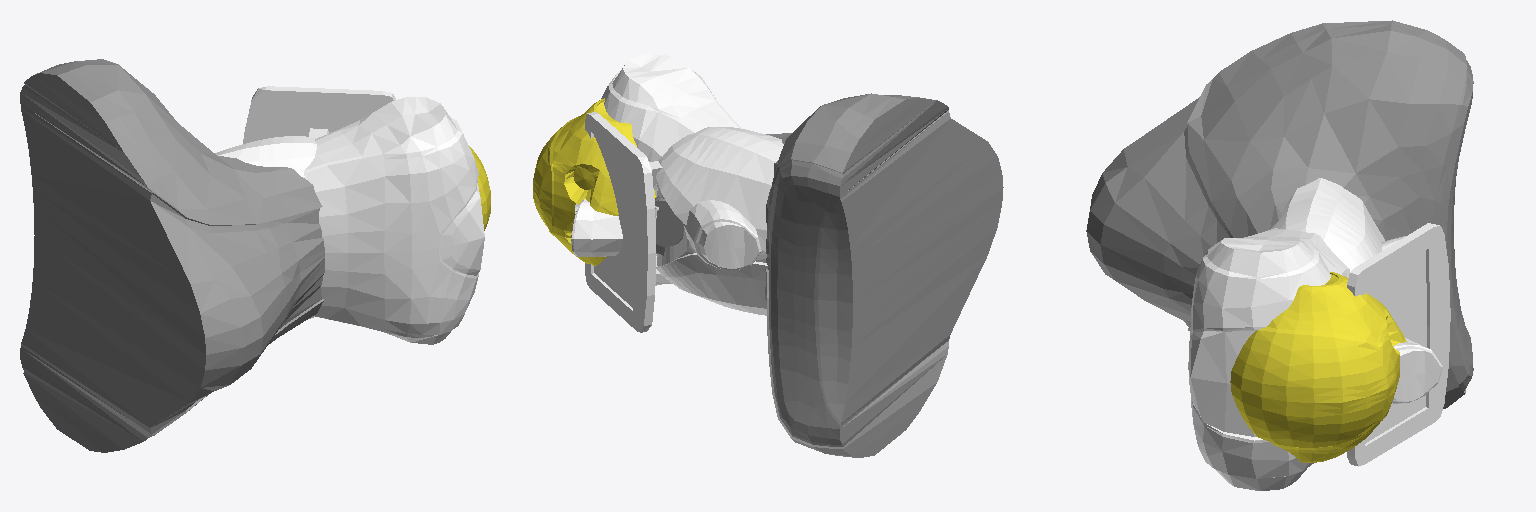
--- What the picture shows (computed from the rendered views, not written in the file) ---
The picture shows the robot from 3 angles, left to right: view 1: azimuth 30°, elevation 25°; view 2: azimuth 150°, elevation 25°; view 3: azimuth 270°, elevation 25°; orthographic projection.
Robot: JulietteY20MP — 83 links, 82 joints (17 revolute, 31 continuous, 34 fixed); root link base_link; default pose: all joints at 0 but 6 set to mid-range because 0 is outside their limits (LShoulderRoll = 0.7854, LElbowRoll = -0.7854, LHand = 0.5, RShoulderRoll = -0.7854, RElbowRoll = 0.7854, RHand = 0.5).
Links seen in each view (by area): view 1: Tibia, torso, Pelvis, Head; view 2: Tibia, torso, Pelvis, Head, LBicep, RBicep, LForeArm; view 3: Tibia, torso, Head, Pelvis, RBicep.
Link boxes in pixels (<box>): Tibia: <box>20,59,324,452</box>; torso: <box>243,86,484,344</box>; Pelvis: <box>215,136,316,318</box>; Head: <box>469,146,490,230</box>; Tibia: <box>765,93,1003,457</box>; torso: <box>585,54,741,332</box>; Pelvis: <box>653,127,783,315</box>; Head: <box>533,98,655,265</box>; LBicep: <box>683,200,761,269</box>; RBicep: <box>571,199,622,256</box>; LForeArm: <box>655,196,684,246</box>; Tibia: <box>1086,20,1473,408</box>; torso: <box>1188,223,1450,490</box>; Head: <box>1230,272,1406,462</box>; Pelvis: <box>1270,178,1384,271</box>; RBicep: <box>1392,338,1442,403</box>.
Bounding box of the posed robot: 52.62 × 43.04 × 47.44 m (x, y, z).
34 mesh visuals loaded from 47 distinct referenced files (34 binary STL); not drawn: 13 (reference not matched to a file when rendering).

The robot description file, URDF, robot "JulietteY20MP":
?<?xml version="1.0" encoding="utf-8"?>
<robot name="JulietteY20MP">
  <material name="milky_white">
    <color rgba="1 1 1 1" />
  </material>
  <material name="shiny_white">
    <color rgba="0.64 0.64 0.64 1" />
  </material>
  <material name="face_tex">
    <texture filename="package://crowdbotsim/resources/juliette_eyes.png" />
  </material>
  <link name="base_link" />
  <link name="torso">
    <inertial>
      <origin rpy="0 0 0" xyz="0.00322 0 -0.01029" />
      <mass value="3.9953300953" />
      <inertia ixx="0.0462998189032078" ixy="0.000730161496903747" ixz="-0.000433180946856737" iyy="0.0434471257030964" iyz="-0.00027618368039839" izz="0.0246874690055847" />
    </inertial>
    <visual>
      <geometry>
        <mesh filename="package://crowdbotsim/meshes/Torso.stl" scale="0.1 0.1 0.1" />
      </geometry>
      <material name="milky_white" />
    </visual>
    <collision>
      <geometry>
        <mesh filename="package://crowdbotsim/meshes/Torso_0.10.stl" scale="0.1 0.1 0.1" />
      </geometry>
    </collision>
  </link>
  <link name="Neck">
    <inertial>
      <origin rpy="0 0 0" xyz="-0.00207 0 -0.02636" />
      <mass value="0.273909986" />
      <inertia ixx="0.000247044081334025" ixy="-2.66084553004475E-05" ixz="7.60054826969281E-05" iyy="0.000340656319167465" iyz="3.71161549992394E-05" izz="0.000464950891910121" />
    </inertial>
    <visual>
      <geometry>
        <mesh filename="package://crowdbotsim/meshes/HeadYaw.stl" scale="0.1 0.1 0.1" />
      </geometry>
      <material name="shiny_white" />
    </visual>
    <collision>
      <geometry>
        <mesh filename="package://crowdbotsim/meshes/HeadYaw_0.10.stl" scale="0.1 0.1 0.1" />
      </geometry>
    </collision>
  </link>
  <link name="Head">
    <inertial>
      <origin rpy="0 0 0" xyz="0.00312 0 0.11152" />
      <mass value="1.5189299583" />
      <inertia ixx="0.00600580452010036" ixy="3.95542592741549E-05" ixz="5.45834609511076E-07" iyy="0.00592098152264953" iyz="4.83686221741664E-07" izz="0.00565444212406874" />
    </inertial>
    <visual>
      <geometry>
        <mesh filename="package://crowdbotsim/meshes/HeadPitch.stl" scale="0.1 0.1 0.1" />
      </geometry>
      <material name="face_tex" />
    </visual>
    <collision>
      <geometry>
        <mesh filename="package://crowdbotsim/meshes/HeadPitch_0.10.stl" scale="0.1 0.1 0.1" />
      </geometry>
    </collision>
  </link>
  <link name="RSpeaker_frame" />
  <link name="LSpeaker_frame" />
  <link name="CameraTop_frame" />
  <link name="CameraTop_optical_frame" />
  <link name="CameraDepth_frame" />
  <link name="CameraDepth_optical_frame" />
  <link name="HeadTouchFront_frame" />
  <link name="CameraBottom_frame" />
  <link name="CameraBottom_optical_frame" />
  <link name="HeadTouchRear_frame" />
  <link name="HeadTouchMiddle_frame" />
  <link name="Hip">
    <inertial>
      <origin rpy="0 0 0" xyz="0.00032 0 -0.06039" />
      <mass value="1.0233800411" />
      <inertia ixx="0.00440107891336083" ixy="4.93292791361455E-05" ixz="-4.91466471430613E-06" iyy="0.00502362661063671" iyz="5.6753218814265E-05" izz="0.00642004469409585" />
    </inertial>
    <visual>
      <geometry>
        <mesh filename="package://crowdbotsim/meshes/HipRoll.stl" scale="0.1 0.1 0.1" />
      </geometry>
      <material name="shiny_white" />
    </visual>
    <collision>
      <geometry>
        <mesh filename="package://crowdbotsim/meshes/HipRoll_0.10.stl" scale="0.1 0.1 0.1" />
      </geometry>
    </collision>
  </link>
  <link name="Pelvis">
    <inertial>
      <origin rpy="0 0 0" xyz="0.00237 0 -0.09654" />
      <mass value="2.4591701031" />
      <inertia ixx="0.0343529880046844" ixy="4.50889419880696E-05" ixz="-4.85995178678422E-06" iyy="0.0303127057850361" iyz="-8.37638581288047E-05" izz="0.0143746118992567" />
    </inertial>
    <visual>
      <geometry>
        <mesh filename="package://crowdbotsim/meshes/HipPitch.stl" scale="0.1 0.1 0.1" />
      </geometry>
      <material name="milky_white" />
    </visual>
    <collision>
      <geometry>
        <mesh filename="package://crowdbotsim/meshes/HipPitch_0.10.stl" scale="0.1 0.1 0.1" />
      </geometry>
    </collision>
  </link>
  <link name="Tibia">
    <inertial>
      <origin rpy="0 0 0" xyz="0.002205 0 -0.185729" />
      <mass value="11.6014995575" />
      <inertia ixx="0.129179716110229" ixy="0.000148943698150106" ixz="-0.00131446425803006" iyy="0.122817315161228" iyz="-6.18266966512238E-08" izz="0.108239002525806" />
    </inertial>
    <visual>
      <geometry>
        <mesh filename="package://crowdbotsim/meshes/KneePitch.stl" scale="0.1 0.1 0.1" />
      </geometry>
      <material name="shiny_white" />
    </visual>
    <collision>
      <geometry>
        <mesh filename="package://crowdbotsim/meshes/KneePitch_0.10.stl" scale="0.1 0.1 0.1" />
      </geometry>
    </collision>
  </link>
  <link name="base_footprint" />
  <link name="SonarBack_frame" />
  <link name="VerticalLeftLaser_frame" />
  <link name="SurroundingFrontLaser_device_frame" />
  <link name="BumperB_frame" />
  <link name="SurroundingLeftLaser_frame" />
  <link name="ShovelLaser_frame" />
  <link name="SurroundingRightLaser_device_frame" />
  <link name="SurroundingLeftLaser_device_frame" />
  <link name="SurroundingRightLaser_frame" />
  <link name="VerticalRightLaser_frame" />
  <link name="SonarFront_frame" />
  <link name="BumperFL_frame" />
  <link name="ImuBaseAccelerometer_frame" />
  <link name="BumperFR_frame" />
  <link name="SurroundingFrontLaser_frame" />
  <link name="WheelFL_link">
    <inertial>
      <origin rpy="0 0 0" xyz="0 0 0" />
      <mass value="1.5802799463" />
      <inertia ixx="0.00296489312313497" ixy="5.12017209075566E-07" ixz="8.84578668092217E-08" iyy="0.00299945333972573" iyz="5.60776925340178E-06" izz="0.00303135369904339" />
    </inertial>
    <visual>
      <geometry>
        <mesh filename="package://crowdbotsim/meshes/WheelFL.stl" scale="0.1 0.1 0.1" />
      </geometry>
      <material name="milky_white" />
    </visual>
    <collision>
      <geometry>
        <mesh filename="package://crowdbotsim/meshes/WheelFL_0.10.stl" scale="0.1 0.1 0.1" />
      </geometry>
    </collision>
  </link>
  <link name="WheelB_link">
    <inertial>
      <origin rpy="0 0 0" xyz="0 0 0" />
      <mass value="1.5802799463" />
      <inertia ixx="0.00296489312313497" ixy="5.12017209075566E-07" ixz="8.84578668092217E-08" iyy="0.00299945333972573" iyz="5.60776925340178E-06" izz="0.00303135369904339" />
    </inertial>
    <visual>
      <geometry>
        <mesh filename="package://crowdbotsim/meshes/WheelB.stl" scale="0.1 0.1 0.1" />
      </geometry>
      <material name="milky_white" />
    </visual>
    <collision>
      <geometry>
        <mesh filename="package://crowdbotsim/meshes/WheelB_0.10.stl" scale="0.1 0.1 0.1" />
      </geometry>
    </collision>
  </link>
  <link name="WheelFR_link">
    <inertial>
      <origin rpy="0 0 0" xyz="0 0 0" />
      <mass value="1.5802799463" />
      <inertia ixx="0.00296489312313497" ixy="5.12017209075566E-07" ixz="8.84578668092217E-08" iyy="0.00299945333972573" iyz="5.60776925340178E-06" izz="0.00303135369904339" />
    </inertial>
    <visual>
      <geometry>
        <mesh filename="package://crowdbotsim/meshes/WheelFR.stl" scale="0.1 0.1 0.1" />
      </geometry>
      <material name="milky_white" />
    </visual>
    <collision>
      <geometry>
        <mesh filename="package://crowdbotsim/meshes/WheelFR_0.10.stl" scale="0.1 0.1 0.1" />
      </geometry>
    </collision>
  </link>
  <link name="LShoulder">
    <inertial>
      <origin rpy="0 0 0" xyz="0.00018 -0.01856 0.00099" />
      <mass value="0.3125" />
      <inertia ixx="0.000361108541255817" ixy="-4.89721378471586E-06" ixz="6.37525658930826E-07" iyy="0.000137213835841976" iyz="-2.2163221728988E-06" izz="0.000399298907723278" />
    </inertial>
    <visual>
      <geometry>
        <mesh filename="package://crowdbotsim/meshes/LShoulderPitch.stl" scale="0.1 0.1 0.1" />
      </geometry>
      <material name="shiny_white" />
    </visual>
    <collision>
      <geometry>
        <mesh filename="package://crowdbotsim/meshes/LShoulderPitch_0.10.stl" scale="0.1 0.1 0.1" />
      </geometry>
    </collision>
  </link>
  <link name="LBicep">
    <inertial>
      <origin rpy="0 0 0" xyz="0.08151 0.01284 -0.01017" />
      <mass value="0.5052700043" />
      <inertia ixx="0.000738023722078651" ixy="-0.00036056007957086" ixz="-3.75016170437448E-05" iyy="0.00101457489654422" iyz="-7.86051896284334E-06" izz="0.00116829376202077" />
    </inertial>
    <visual>
      <geometry>
        <mesh filename="package://crowdbotsim/meshes/LShoulderRoll.stl" scale="0.1 0.1 0.1" />
      </geometry>
      <material name="milky_white" />
    </visual>
    <collision>
      <geometry>
        <mesh filename="package://crowdbotsim/meshes/LShoulderRoll_0.10.stl" scale="0.1 0.1 0.1" />
      </geometry>
    </collision>
  </link>
  <link name="LElbow">
    <inertial>
      <origin rpy="0 0 0" xyz="-0.02297 -0.00019 0.00119" />
      <mass value="0.2749499977" />
      <inertia ixx="0.000195854983758181" ixy="-0.00010136554192286" ixz="1.06879879240296E-05" iyy="0.000255356484558433" iyz="2.80242579719925E-06" izz="0.00030657253228128" />
    </inertial>
    <visual>
      <geometry>
        <mesh filename="package://crowdbotsim/meshes/LElbowYaw.stl" scale="0.1 0.1 0.1" />
      </geometry>
      <material name="shiny_white" />
    </visual>
    <collision>
      <geometry>
        <mesh filename="package://crowdbotsim/meshes/LElbowYaw_0.10.stl" scale="0.1 0.1 0.1" />
      </geometry>
    </collision>
  </link>
  <link name="LForeArm">
    <inertial>
      <origin rpy="0 0 0" xyz="0.0593 0.00271 -0.01014" />
      <mass value="0.1657900065" />
      <inertia ixx="0.00048063401482068" ixy="-0.000281982676824555" ixz="0.000403846177505329" iyy="0.00150039861910045" iyz="0.00013955649046693" izz="0.00158936984371394" />
    </inertial>
    <visual>
      <geometry>
        <mesh filename="package://crowdbotsim/meshes/LElbowRoll.stl" scale="0.1 0.1 0.1" />
      </geometry>
      <material name="shiny_white" />
    </visual>
    <collision>
      <geometry>
        <mesh filename="package://crowdbotsim/meshes/LElbowRoll_0.10.stl" scale="0.1 0.1 0.1" />
      </geometry>
    </collision>
  </link>
  <link name="l_wrist">
    <inertial>
      <origin rpy="0 0 0" xyz="0.03536 -0.00072 -0.00207" />
      <mass value="0.2755500078" />
      <inertia ixx="0.000421455479227006" ixy="1.13368487291154E-05" ixz="-5.45127004443202E-05" iyy="0.000426045298809186" iyz="8.72357850312255E-05" izz="0.000191413579159416" />
    </inertial>
    <visual>
      <geometry>
        <mesh filename="package://crowdbotsim/meshes/LWristYaw.stl" scale="0.1 0.1 0.1" />
      </geometry>
      <material name="milky_white" />
    </visual>
    <collision>
      <geometry>
        <mesh filename="package://crowdbotsim/meshes/LWristYaw_0.10.stl" scale="0.1 0.1 0.1" />
      </geometry>
    </collision>
  </link>
  <link name="l_gripper">
    <inertial>
      <origin rpy="0 0 0" xyz="0 0 0" />
      <mass value="2E-06" />
      <inertia ixx="1" ixy="0" ixz="0" iyy="1" iyz="0" izz="1" />
    </inertial>
  </link>
  <link name="LHandTouchBack_frame" />
  <link name="LFinger21_link">
    <inertial>
      <origin rpy="0 0 0" xyz="0 0 0" />
      <mass value="2E-06" />
      <inertia ixx="1" ixy="0" ixz="0" iyy="1" iyz="0" izz="1" />
    </inertial>
    <visual>
      <geometry>
        <mesh filename="package://crowdbotsim/meshes/LFinger21.stl" scale="0.1 0.1 0.1" />
      </geometry>
      <material name="milky_white" />
    </visual>
    <collision>
      <geometry>
        <mesh filename="package://crowdbotsim/meshes/LFinger21_0.10.stl" scale="0.1 0.1 0.1" />
      </geometry>
    </collision>
  </link>
  <link name="LFinger22_link">
    <inertial>
      <origin rpy="0 0 0" xyz="0 0 0" />
      <mass value="2E-06" />
      <inertia ixx="1" ixy="0" ixz="0" iyy="1" iyz="0" izz="1" />
    </inertial>
    <visual>
      <geometry>
        <mesh filename="package://crowdbotsim/meshes/LFinger22.stl" scale="0.1 0.1 0.1" />
      </geometry>
      <material name="milky_white" />
    </visual>
    <collision>
      <geometry>
        <mesh filename="package://crowdbotsim/meshes/LFinger22_0.10.stl" scale="0.1 0.1 0.1" />
      </geometry>
    </collision>
  </link>
  <link name="LFinger23_link">
    <inertial>
      <origin rpy="0 0 0" xyz="0 0 0" />
      <mass value="2E-06" />
      <inertia ixx="1" ixy="0" ixz="0" iyy="1" iyz="0" izz="1" />
    </inertial>
    <visual>
      <geometry>
        <mesh filename="package://crowdbotsim/meshes/LFinger23.stl" scale="0.1 0.1 0.1" />
      </geometry>
      <material name="milky_white" />
    </visual>
    <collision>
      <geometry>
        <mesh filename="package://crowdbotsim/meshes/LFinger23_0.10.stl" scale="0.1 0.1 0.1" />
      </geometry>
    </collision>
  </link>
  <link name="LFinger11_link">
    <inertial>
      <origin rpy="0 0 0" xyz="0 0 0" />
      <mass value="2E-06" />
      <inertia ixx="1" ixy="0" ixz="0" iyy="1" iyz="0" izz="1" />
    </inertial>
    <visual>
      <geometry>
        <mesh filename="package://crowdbotsim/meshes/LFinger11.stl" scale="0.1 0.1 0.1" />
      </geometry>
      <material name="milky_white" />
    </visual>
    <collision>
      <geometry>
        <mesh filename="package://crowdbotsim/meshes/LFinger11_0.10.stl" scale="0.1 0.1 0.1" />
      </geometry>
    </collision>
  </link>
  <link name="LFinger12_link">
    <inertial>
      <origin rpy="0 0 0" xyz="0 0 0" />
      <mass value="2E-06" />
      <inertia ixx="1" ixy="0" ixz="0" iyy="1" iyz="0" izz="1" />
    </inertial>
    <visual>
      <geometry>
        <mesh filename="package://crowdbotsim/meshes/LFinger12.stl" scale="0.1 0.1 0.1" />
      </geometry>
      <material name="milky_white" />
    </visual>
    <collision>
      <geometry>
        <mesh filename="package://crowdbotsim/meshes/LFinger12_0.10.stl" scale="0.1 0.1 0.1" />
      </geometry>
    </collision>
  </link>
  <link name="LFinger13_link">
    <inertial>
      <origin rpy="0 0 0" xyz="0 0 0" />
      <mass value="2E-06" />
      <inertia ixx="1" ixy="0" ixz="0" iyy="1" iyz="0" izz="1" />
    </inertial>
    <visual>
      <geometry>
        <mesh filename="package://crowdbotsim/meshes/LFinger13.stl" scale="0.1 0.1 0.1" />
      </geometry>
      <material name="milky_white" />
    </visual>
    <collision>
      <geometry>
        <mesh filename="package://crowdbotsim/meshes/LFinger13_0.10.stl" scale="0.1 0.1 0.1" />
      </geometry>
    </collision>
  </link>
  <link name="LFinger41_link">
    <inertial>
      <origin rpy="0 0 0" xyz="0 0 0" />
      <mass value="2E-06" />
      <inertia ixx="1" ixy="0" ixz="0" iyy="1" iyz="0" izz="1" />
    </inertial>
    <visual>
      <geometry>
        <mesh filename="package://crowdbotsim/meshes/LFinger41.stl" scale="0.1 0.1 0.1" />
      </geometry>
      <material name="milky_white" />
    </visual>
    <collision>
      <geometry>
        <mesh filename="package://crowdbotsim/meshes/LFinger41_0.10.stl" scale="0.1 0.1 0.1" />
      </geometry>
    </collision>
  </link>
  <link name="LFinger42_link">
    <inertial>
      <origin rpy="0 0 0" xyz="0 0 0" />
      <mass value="2E-06" />
      <inertia ixx="1" ixy="0" ixz="0" iyy="1" iyz="0" izz="1" />
    </inertial>
    <visual>
      <geometry>
        <mesh filename="package://crowdbotsim/meshes/LFinger42.stl" scale="0.1 0.1 0.1" />
      </geometry>
      <material name="milky_white" />
    </visual>
    <collision>
      <geometry>
        <mesh filename="package://crowdbotsim/meshes/LFinger42_0.10.stl" scale="0.1 0.1 0.1" />
      </geometry>
    </collision>
  </link>
  <link name="LFinger43_link">
    <inertial>
      <origin rpy="0 0 0" xyz="0 0 0" />
      <mass value="2E-06" />
      <inertia ixx="1" ixy="0" ixz="0" iyy="1" iyz="0" izz="1" />
    </inertial>
    <visual>
      <geometry>
        <mesh filename="package://crowdbotsim/meshes/LFinger43.stl" scale="0.1 0.1 0.1" />
      </geometry>
      <material name="milky_white" />
    </visual>
    <collision>
      <geometry>
        <mesh filename="package://crowdbotsim/meshes/LFinger43_0.10.stl" scale="0.1 0.1 0.1" />
      </geometry>
    </collision>
  </link>
  <link name="LFinger31_link">
    <inertial>
      <origin rpy="0 0 0" xyz="0 0 0" />
      <mass value="2E-06" />
      <inertia ixx="1" ixy="0" ixz="0" iyy="1" iyz="0" izz="1" />
    </inertial>
    <visual>
      <geometry>
        <mesh filename="package://crowdbotsim/meshes/LFinger31.stl" scale="0.1 0.1 0.1" />
      </geometry>
      <material name="milky_white" />
    </visual>
    <collision>
      <geometry>
        <mesh filename="package://crowdbotsim/meshes/LFinger31_0.10.stl" scale="0.1 0.1 0.1" />
      </geometry>
    </collision>
  </link>
  <link name="LFinger32_link">
    <inertial>
      <origin rpy="0 0 0" xyz="0 0 0" />
      <mass value="2E-06" />
      <inertia ixx="1" ixy="0" ixz="0" iyy="1" iyz="0" izz="1" />
    </inertial>
    <visual>
      <geometry>
        <mesh filename="package://crowdbotsim/meshes/LFinger32.stl" scale="0.1 0.1 0.1" />
      </geometry>
      <material name="milky_white" />
    </visual>
    <collision>
      <geometry>
        <mesh filename="package://crowdbotsim/meshes/LFinger32_0.10.stl" scale="0.1 0.1 0.1" />
      </geometry>
    </collision>
  </link>
  <link name="LFinger33_link">
    <inertial>
      <origin rpy="0 0 0" xyz="0 0 0" />
      <mass value="2E-06" />
      <inertia ixx="1" ixy="0" ixz="0" iyy="1" iyz="0" izz="1" />
    </inertial>
    <visual>
      <geometry>
        <mesh filename="package://crowdbotsim/meshes/LFinger33.stl" scale="0.1 0.1 0.1" />
      </geometry>
      <material name="milky_white" />
    </visual>
    <collision>
      <geometry>
        <mesh filename="package://crowdbotsim/meshes/LFinger33_0.10.stl" scale="0.1 0.1 0.1" />
      </geometry>
    </collision>
  </link>
  <link name="LThumb1_link">
    <inertial>
      <origin rpy="0 0 0" xyz="0 0 0" />
      <mass value="2E-06" />
      <inertia ixx="1" ixy="0" ixz="0" iyy="1" iyz="0" izz="1" />
    </inertial>
    <visual>
      <geometry>
        <mesh filename="package://crowdbotsim/meshes/LThumb1.stl" scale="0.1 0.1 0.1" />
      </geometry>
      <material name="milky_white" />
    </visual>
    <collision>
      <geometry>
        <mesh filename="package://crowdbotsim/meshes/LThumb1_0.10.stl" scale="0.1 0.1 0.1" />
      </geometry>
    </collision>
  </link>
  <link name="LThumb2_link">
    <inertial>
      <origin rpy="0 0 0" xyz="0 0 0" />
      <mass value="2E-06" />
      <inertia ixx="1" ixy="0" ixz="0" iyy="1" iyz="0" izz="1" />
    </inertial>
    <visual>
      <geometry>
        <mesh filename="package://crowdbotsim/meshes/LThumb2.stl" scale="0.1 0.1 0.1" />
      </geometry>
      <material name="milky_white" />
    </visual>
    <collision>
      <geometry>
        <mesh filename="package://crowdbotsim/meshes/LThumb2_0.10.stl" scale="0.1 0.1 0.1" />
      </geometry>
    </collision>
  </link>
  <link name="RShoulder">
    <inertial>
      <origin rpy="0 0 0" xyz="0.00018 0.01856 0.00099" />
      <mass value="0.3125" />
      <inertia ixx="0.000361108541255817" ixy="4.89721378471586E-06" ixz="6.37525658930826E-07" iyy="0.000137213835841976" iyz="2.2163221728988E-06" izz="0.000399298907723278" />
    </inertial>
    <visual>
      <geometry>
        <mesh filename="package://crowdbotsim/meshes/RShoulderPitch.stl" scale="0.1 0.1 0.1" />
      </geometry>
      <material name="shiny_white" />
    </visual>
    <collision>
      <geometry>
        <mesh filename="package://crowdbotsim/meshes/RShoulderPitch_0.10.stl" scale="0.1 0.1 0.1" />
      </geometry>
    </collision>
  </link>
  <link name="RBicep">
    <inertial>
      <origin rpy="0 0 0" xyz="0.08151 -0.01284 -0.01017" />
      <mass value="0.5052700043" />
      <inertia ixx="0.000793765531852841" ixy="-0.000377408548956737" ixz="-3.50773734680843E-05" iyy="0.000958748394623399" iyz="-9.73487112787552E-06" izz="0.0011683776974678" />
    </inertial>
    <visual>
      <geometry>
        <mesh filename="package://crowdbotsim/meshes/RShoulderRoll.stl" scale="0.1 0.1 0.1" />
      </geometry>
      <material name="milky_white" />
    </visual>
    <collision>
      <geometry>
        <mesh filename="package://crowdbotsim/meshes/RShoulderRoll_0.10.stl" scale="0.1 0.1 0.1" />
      </geometry>
    </collision>
  </link>
  <link name="RElbow">
    <inertial>
      <origin rpy="0 0 0" xyz="-0.02297 0.00019 0.00119" />
      <mass value="0.2749499977" />
      <inertia ixx="0.000194782085600309" ixy="-0.000101040590379853" ixz="1.07393771031639E-05" iyy="0.000256431434536353" iyz="2.76397622656077E-06" izz="0.000306570524116978" />
    </inertial>
    <visual>
      <geometry>
        <mesh filename="package://crowdbotsim/meshes/RElbowYaw.stl" scale="0.1 0.1 0.1" />
      </geometry>
      <material name="shiny_white" />
    </visual>
    <collision>
      <geometry>
        <mesh filename="package://crowdbotsim/meshes/RElbowYaw_0.10.stl" scale="0.1 0.1 0.1" />
      </geometry>
    </collision>
  </link>
  <link name="RForeArm">
    <inertial>
      <origin rpy="0 0 0" xyz="0.0593 -0.00271 -0.01014" />
      <mass value="0.1657900065" />
      <inertia ixx="0.000480270071420819" ixy="-0.000281236600130796" ixz="0.00040399661520496" iyy="0.00150082213804126" iyz="0.000139315001433715" izz="0.00158930895850062" />
    </inertial>
    <visual>
      <geometry>
        <mesh filename="package://crowdbotsim/meshes/RElbowRoll.stl" scale="0.1 0.1 0.1" />
      </geometry>
      <material name="shiny_white" />
    </visual>
    <collision>
      <geometry>
        <mesh filename="package://crowdbotsim/meshes/RElbowRoll_0.10.stl" scale="0.1 0.1 0.1" />
      </geometry>
    </collision>
  </link>
  <link name="r_wrist">
    <inertial>
      <origin rpy="0 0 0" xyz="0.03536 0.00072 -0.00207" />
      <mass value="0.2755500078" />
      <inertia ixx="0.000427103193942457" ixy="-1.15079365059501E-06" ixz="-3.33570387738291E-05" iyy="0.000456119538284838" iyz="-1.15950751933269E-05" izz="0.000155691654072143" />
    </inertial>
    <visual>
      <geometry>
        <mesh filename="package://crowdbotsim/meshes/RWristYaw.stl" scale="0.1 0.1 0.1" />
      </geometry>
      <material name="milky_white" />
    </visual>
    <collision>
      <geometry>
        <mesh filename="package://crowdbotsim/meshes/RWristYaw_0.10.stl" scale="0.1 0.1 0.1" />
      </geometry>
    </collision>
  </link>
  <link name="r_gripper">
    <inertial>
      <origin rpy="0 0 0" xyz="0 0 0" />
      <mass value="2E-06" />
      <inertia ixx="1" ixy="0" ixz="0" iyy="1" iyz="0" izz="1" />
    </inertial>
  </link>
  <link name="RHandTouchBack_frame" />
  <link name="RFinger41_link">
    <inertial>
      <origin rpy="0 0 0" xyz="0 0 0" />
      <mass value="2E-06" />
      <inertia ixx="1" ixy="0" ixz="0" iyy="1" iyz="0" izz="1" />
    </inertial>
    <visual>
      <geometry>
        <mesh filename="package://crowdbotsim/meshes/RFinger41.stl" scale="0.1 0.1 0.1" />
      </geometry>
      <material name="milky_white" />
    </visual>
    <collision>
      <geometry>
        <mesh filename="package://crowdbotsim/meshes/RFinger41_0.10.stl" scale="0.1 0.1 0.1" />
      </geometry>
    </collision>
  </link>
  <link name="RFinger42_link">
    <inertial>
      <origin rpy="0 0 0" xyz="0 0 0" />
      <mass value="2E-06" />
      <inertia ixx="1" ixy="0" ixz="0" iyy="1" iyz="0" izz="1" />
    </inertial>
    <visual>
      <geometry>
        <mesh filename="package://crowdbotsim/meshes/RFinger42.stl" scale="0.1 0.1 0.1" />
      </geometry>
      <material name="milky_white" />
    </visual>
    <collision>
      <geometry>
        <mesh filename="package://crowdbotsim/meshes/RFinger42_0.10.stl" scale="0.1 0.1 0.1" />
      </geometry>
    </collision>
  </link>
  <link name="RFinger43_link">
    <inertial>
      <origin rpy="0 0 0" xyz="0 0 0" />
      <mass value="2E-06" />
      <inertia ixx="1" ixy="0" ixz="0" iyy="1" iyz="0" izz="1" />
    </inertial>
    <visual>
      <geometry>
        <mesh filename="package://crowdbotsim/meshes/RFinger43.stl" scale="0.1 0.1 0.1" />
      </geometry>
      <material name="milky_white" />
    </visual>
    <collision>
      <geometry>
        <mesh filename="package://crowdbotsim/meshes/RFinger43_0.10.stl" scale="0.1 0.1 0.1" />
      </geometry>
    </collision>
  </link>
  <link name="RFinger31_link">
    <inertial>
      <origin rpy="0 0 0" xyz="0 0 0" />
      <mass value="2E-06" />
      <inertia ixx="1" ixy="0" ixz="0" iyy="1" iyz="0" izz="1" />
    </inertial>
    <visual>
      <geometry>
        <mesh filename="package://crowdbotsim/meshes/RFinger31.stl" scale="0.1 0.1 0.1" />
      </geometry>
      <material name="milky_white" />
    </visual>
    <collision>
      <geometry>
        <mesh filename="package://crowdbotsim/meshes/RFinger31_0.10.stl" scale="0.1 0.1 0.1" />
      </geometry>
    </collision>
  </link>
  <link name="RFinger32_link">
    <inertial>
      <origin rpy="0 0 0" xyz="0 0 0" />
      <mass value="2E-06" />
      <inertia ixx="1" ixy="0" ixz="0" iyy="1" iyz="0" izz="1" />
    </inertial>
    <visual>
      <geometry>
        <mesh filename="package://crowdbotsim/meshes/RFinger32.stl" scale="0.1 0.1 0.1" />
      </geometry>
      <material name="milky_white" />
    </visual>
    <collision>
      <geometry>
        <mesh filename="package://crowdbotsim/meshes/RFinger32_0.10.stl" scale="0.1 0.1 0.1" />
      </geometry>
    </collision>
  </link>
  <link name="RFinger33_link">
    <inertial>
      <origin rpy="0 0 0" xyz="0 0 0" />
      <mass value="2E-06" />
      <inertia ixx="1" ixy="0" ixz="0" iyy="1" iyz="0" izz="1" />
    </inertial>
    <visual>
      <geometry>
        <mesh filename="package://crowdbotsim/meshes/RFinger33.stl" scale="0.1 0.1 0.1" />
      </geometry>
      <material name="milky_white" />
    </visual>
    <collision>
      <geometry>
        <mesh filename="package://crowdbotsim/meshes/RFinger33_0.10.stl" scale="0.1 0.1 0.1" />
      </geometry>
    </collision>
  </link>
  <link name="RFinger21_link">
    <inertial>
      <origin rpy="0 0 0" xyz="0 0 0" />
      <mass value="2E-06" />
      <inertia ixx="1" ixy="0" ixz="0" iyy="1" iyz="0" izz="1" />
    </inertial>
    <visual>
      <geometry>
        <mesh filename="package://crowdbotsim/meshes/RFinger21.stl" scale="0.1 0.1 0.1" />
      </geometry>
      <material name="milky_white" />
    </visual>
    <collision>
      <geometry>
        <mesh filename="package://crowdbotsim/meshes/RFinger21_0.10.stl" scale="0.1 0.1 0.1" />
      </geometry>
    </collision>
  </link>
  <link name="RFinger22_link">
    <inertial>
      <origin rpy="0 0 0" xyz="0 0 0" />
      <mass value="2E-06" />
      <inertia ixx="1" ixy="0" ixz="0" iyy="1" iyz="0" izz="1" />
    </inertial>
    <visual>
      <geometry>
        <mesh filename="package://crowdbotsim/meshes/RFinger22.stl" scale="0.1 0.1 0.1" />
      </geometry>
      <material name="milky_white" />
    </visual>
    <collision>
      <geometry>
        <mesh filename="package://crowdbotsim/meshes/RFinger22_0.10.stl" scale="0.1 0.1 0.1" />
      </geometry>
    </collision>
  </link>
  <link name="RFinger23_link">
    <inertial>
      <origin rpy="0 0 0" xyz="0 0 0" />
      <mass value="2E-06" />
      <inertia ixx="1" ixy="0" ixz="0" iyy="1" iyz="0" izz="1" />
    </inertial>
    <visual>
      <geometry>
        <mesh filename="package://crowdbotsim/meshes/RFinger23.stl" scale="0.1 0.1 0.1" />
      </geometry>
      <material name="milky_white" />
    </visual>
    <collision>
      <geometry>
        <mesh filename="package://crowdbotsim/meshes/RFinger23_0.10.stl" scale="0.1 0.1 0.1" />
      </geometry>
    </collision>
  </link>
  <link name="RFinger11_link">
    <inertial>
      <origin rpy="0 0 0" xyz="0 0 0" />
      <mass value="2E-06" />
      <inertia ixx="1" ixy="0" ixz="0" iyy="1" iyz="0" izz="1" />
    </inertial>
    <visual>
      <geometry>
        <mesh filename="package://crowdbotsim/meshes/RFinger11.stl" scale="0.1 0.1 0.1" />
      </geometry>
      <material name="milky_white" />
    </visual>
    <collision>
      <geometry>
        <mesh filename="package://crowdbotsim/meshes/RFinger11_0.10.stl" scale="0.1 0.1 0.1" />
      </geometry>
    </collision>
  </link>
  <link name="RFinger12_link">
    <inertial>
      <origin rpy="0 0 0" xyz="0 0 0" />
      <mass value="2E-06" />
      <inertia ixx="1" ixy="0" ixz="0" iyy="1" iyz="0" izz="1" />
    </inertial>
    <visual>
      <geometry>
        <mesh filename="package://crowdbotsim/meshes/RFinger12.stl" scale="0.1 0.1 0.1" />
      </geometry>
      <material name="milky_white" />
    </visual>
    <collision>
      <geometry>
        <mesh filename="package://crowdbotsim/meshes/RFinger12_0.10.stl" scale="0.1 0.1 0.1" />
      </geometry>
    </collision>
  </link>
  <link name="RFinger13_link">
    <inertial>
      <origin rpy="0 0 0" xyz="0 0 0" />
      <mass value="2E-06" />
      <inertia ixx="1" ixy="0" ixz="0" iyy="1" iyz="0" izz="1" />
    </inertial>
    <visual>
      <geometry>
        <mesh filename="package://crowdbotsim/meshes/RFinger13.stl" scale="0.1 0.1 0.1" />
      </geometry>
      <material name="milky_white" />
    </visual>
    <collision>
      <geometry>
        <mesh filename="package://crowdbotsim/meshes/RFinger13_0.10.stl" scale="0.1 0.1 0.1" />
      </geometry>
    </collision>
  </link>
  <link name="RThumb1_link">
    <inertial>
      <origin rpy="0 0 0" xyz="0 0 0" />
      <mass value="2E-06" />
      <inertia ixx="1" ixy="0" ixz="0" iyy="1" iyz="0" izz="1" />
    </inertial>
    <visual>
      <geometry>
        <mesh filename="package://crowdbotsim/meshes/RThumb1.stl" scale="0.1 0.1 0.1" />
      </geometry>
      <material name="milky_white" />
    </visual>
    <collision>
      <geometry>
        <mesh filename="package://crowdbotsim/meshes/RThumb1_0.10.stl" scale="0.1 0.1 0.1" />
      </geometry>
    </collision>
  </link>
  <link name="RThumb2_link">
    <inertial>
      <origin rpy="0 0 0" xyz="0 0 0" />
      <mass value="2E-06" />
      <inertia ixx="1" ixy="0" ixz="0" iyy="1" iyz="0" izz="1" />
    </inertial>
    <visual>
      <geometry>
        <mesh filename="package://crowdbotsim/meshes/RThumb2.stl" scale="0.1 0.1 0.1" />
      </geometry>
      <material name="milky_white" />
    </visual>
    <collision>
      <geometry>
        <mesh filename="package://crowdbotsim/meshes/RThumb2_0.10.stl" scale="0.1 0.1 0.1" />
      </geometry>
    </collision>
  </link>
  <link name="ImuTorsoAccelerometer_frame" />
  <link name="ImuTorsoGyrometer_frame" />
  <link name="Tablet_frame" />
  <link name="ChestButton_frame" />
  <joint name="base_link_torso_joint" type="fixed">
    <parent link="base_link" />
    <child link="torso" />
  </joint>
  <joint name="HeadYaw" type="revolute">
    <origin xyz="-0.038 0 0.1699" />
    <parent link="torso" />
    <child link="Neck" />
    <axis xyz="0 0 1" />
    <limit lower="-2.08567" upper="2.08567" effort="1000" velocity="1000" />
  </joint>
  <joint name="HeadPitch" type="revolute">
    <parent link="Neck" />
    <child link="Head" />
    <axis xyz="0 1 0" />
    <limit lower="-0.706858" upper="0.637045" effort="1000" velocity="1000" />
  </joint>
  <joint name="Head_RSpeaker_frame_joint" type="fixed">
    <parent link="Head" />
    <child link="RSpeaker_frame" />
  </joint>
  <joint name="Head_LSpeaker_frame_joint" type="fixed">
    <parent link="Head" />
    <child link="LSpeaker_frame" />
  </joint>
  <joint name="Head_CameraTop_frame_joint" type="fixed">
    <origin xyz="0.08601 0 0.16284" />
    <parent link="Head" />
    <child link="CameraTop_frame" />
  </joint>
  <joint name="CameraTop_frame_CameraTop_optical_frame_joint" type="fixed">
    <origin rpy="-1.570796 0 -1.570796" />
    <parent link="CameraTop_frame" />
    <child link="CameraTop_optical_frame" />
  </joint>
  <joint name="Head_CameraDepth_frame_joint" type="fixed">
    <origin xyz="0.05138 0.039 0.1194" />
    <parent link="Head" />
    <child link="CameraDepth_frame" />
  </joint>
  <joint name="CameraDepth_frame_CameraDepth_optical_frame_joint" type="fixed">
    <origin rpy="-1.570796 0 -1.570796" />
    <parent link="CameraDepth_frame" />
    <child link="CameraDepth_optical_frame" />
  </joint>
  <joint name="Head_HeadTouchFront_frame_joint" type="fixed">
    <origin rpy="0 0.20944 0" xyz="0.028175 0 0.21267" />
    <parent link="Head" />
    <child link="HeadTouchFront_frame" />
  </joint>
  <joint name="Head_CameraBottom_frame_joint" type="fixed">
    <origin rpy="0 0.698132 0" xyz="0.09262 0 0.06177" />
    <parent link="Head" />
    <child link="CameraBottom_frame" />
  </joint>
  <joint name="CameraBottom_frame_CameraBottom_optical_frame_joint" type="fixed">
    <origin rpy="-1.570796 0 -1.570796" />
    <parent link="CameraBottom_frame" />
    <child link="CameraBottom_optical_frame" />
  </joint>
  <joint name="Head_HeadTouchRear_frame_joint" type="fixed">
    <origin rpy="0 5.969026 0" xyz="-0.03376 0 0.21052" />
    <parent link="Head" />
    <child link="HeadTouchRear_frame" />
  </joint>
  <joint name="Head_HeadTouchMiddle_frame_joint" type="fixed">
    <origin rpy="0 6.248279 0" xyz="0.0041 0 0.2159" />
    <parent link="Head" />
    <child link="HeadTouchMiddle_frame" />
  </joint>
  <joint name="HipRoll" type="revolute">
    <origin xyz="2E-05 0 -0.139" />
    <parent link="torso" />
    <child link="Hip" />
    <axis xyz="1 0 0" />
    <limit lower="-0.514872" upper="0.514872" effort="1000" velocity="1000" />
  </joint>
  <joint name="HipPitch" type="revolute">
    <origin xyz="0 0 -0.079" />
    <parent link="Hip" />
    <child link="Pelvis" />
    <axis xyz="0 1 0" />
    <limit lower="-1.03847" upper="1.03847" effort="1000" velocity="1000" />
  </joint>
  <joint name="KneePitch" type="revolute">
    <origin xyz="0 0 -0.268" />
    <parent link="Pelvis" />
    <child link="Tibia" />
    <axis xyz="0 1 0" />
    <limit lower="-0.514872" upper="0.514872" effort="1000" velocity="1000" />
  </joint>
  <joint name="Tibia_base_footprint_joint" type="fixed">
    <origin xyz="0 0 -0.334" />
    <parent link="Tibia" />
    <child link="base_footprint" />
  </joint>
  <joint name="Tibia_SonarBack_frame_joint" type="fixed">
    <origin rpy="0 6.073747 -3.14159" xyz="-0.0718 0 -0.0534" />
    <parent link="Tibia" />
    <child link="SonarBack_frame" />
  </joint>
  <joint name="Tibia_VerticalLeftLaser_frame_joint" type="fixed">
    <origin rpy="0 0.349066 0" xyz="0.0562 0 -0.0692" />
    <parent link="Tibia" />
    <child link="VerticalLeftLaser_frame" />
  </joint>
  <joint name="Tibia_SurroundingFrontLaser_device_frame_joint" type="fixed">
    <origin rpy="0 0.349066 0" xyz="0.0562 0 -0.0692" />
    <parent link="Tibia" />
    <child link="SurroundingFrontLaser_device_frame" />
  </joint>
  <joint name="Tibia_BumperB_frame_joint" type="fixed">
    <origin rpy="0 0 -3.14159" xyz="-0.251 0 -0.264" />
    <parent link="Tibia" />
    <child link="BumperB_frame" />
  </joint>
  <joint name="Tibia_SurroundingLeftLaser_frame_joint" type="fixed">
    <origin rpy="0 0 -4.525905" xyz="-0.018 0.0899 -0.334" />
    <parent link="Tibia" />
    <child link="SurroundingLeftLaser_frame" />
  </joint>
  <joint name="Tibia_ShovelLaser_frame_joint" type="fixed">
    <origin rpy="0 0.349066 0" xyz="0.0562 0 -0.0692" />
    <parent link="Tibia" />
    <child link="ShovelLaser_frame" />
  </joint>
  <joint name="Tibia_SurroundingRightLaser_device_frame_joint" type="fixed">
    <origin rpy="0 0.349066 -1.5708" xyz="-0.018 -0.0899 -0.0759" />
    <parent link="Tibia" />
    <child link="SurroundingRightLaser_device_frame" />
  </joint>
  <joint name="Tibia_SurroundingLeftLaser_device_frame_joint" type="fixed">
    <origin rpy="0 0.349066 -4.712386" xyz="-0.018 0.0899 -0.0759" />
    <parent link="Tibia" />
    <child link="SurroundingLeftLaser_device_frame" />
  </joint>
  <joint name="Tibia_SurroundingRightLaser_frame_joint" type="fixed">
    <origin rpy="0 0 -1.75728" xyz="-0.018 -0.0899 -0.334" />
    <parent link="Tibia" />
    <child link="SurroundingRightLaser_frame" />
  </joint>
  <joint name="Tibia_VerticalRightLaser_frame_joint" type="fixed">
    <origin rpy="0 0.349066 0" xyz="0.0562 0 -0.0692" />
    <parent link="Tibia" />
    <child link="VerticalRightLaser_frame" />
  </joint>
  <joint name="Tibia_SonarFront_frame_joint" type="fixed">
    <origin rpy="0 5.960327 0" xyz="0.0699 0 -0.1023" />
    <parent link="Tibia" />
    <child link="SonarFront_frame" />
  </joint>
  <joint name="Tibia_BumperFL_frame_joint" type="fixed">
    <origin rpy="0 0 -5.794325" xyz="0.129 0.227 -0.264" />
    <parent link="Tibia" />
    <child link="BumperFL_frame" />
  </joint>
  <joint name="Tibia_ImuBaseAccelerometer_frame_joint" type="fixed">
    <origin xyz="0.0147 -0.0017 -0.26319" />
    <parent link="Tibia" />
    <child link="ImuBaseAccelerometer_frame" />
  </joint>
  <joint name="Tibia_BumperFR_frame_joint" type="fixed">
    <origin rpy="0 0 -0.48886" xyz="0.129 -0.227 -0.264" />
    <parent link="Tibia" />
    <child link="BumperFR_frame" />
  </joint>
  <joint name="Tibia_SurroundingFrontLaser_frame_joint" type="fixed">
    <origin xyz="0.0562 0 -0.334" />
    <parent link="Tibia" />
    <child link="SurroundingFrontLaser_frame" />
  </joint>
  <joint name="WheelFL" type="continuous">
    <origin rpy="0 0 -5.208015" xyz="0.09 0.155 -0.264" />
    <parent link="Tibia" />
    <child link="WheelFL_link" />
    <axis xyz="1 0 0" />
  </joint>
  <joint name="WheelB" type="continuous">
    <origin rpy="0 0 -3.14159" xyz="-0.17 0 -0.264" />
    <parent link="Tibia" />
    <child link="WheelB_link" />
    <axis xyz="1 0 0" />
  </joint>
  <joint name="WheelFR" type="continuous">
    <origin rpy="0 0 -1.07517" xyz="0.09 -0.155 -0.264" />
    <parent link="Tibia" />
    <child link="WheelFR_link" />
    <axis xyz="1 0 0" />
  </joint>
  <joint name="LShoulderPitch" type="revolute">
    <origin xyz="-0.057 0.14974 0.08682" />
    <parent link="torso" />
    <child link="LShoulder" />
    <axis xyz="0 1 0" />
    <limit lower="-2.08567" upper="2.08567" effort="1000" velocity="1000" />
  </joint>
  <joint name="LShoulderRoll" type="revolute">
    <parent link="LShoulder" />
    <child link="LBicep" />
    <axis xyz="0 0 1" />
    <limit lower="0.008727" upper="1.56207" effort="1000" velocity="1000" />
  </joint>
  <joint name="LElbowYaw" type="revolute">
    <origin rpy="0 6.126106 0" xyz="0.1812 0.015 0.00013" />
    <parent link="LBicep" />
    <child link="LElbow" />
    <axis xyz="1 0 0" />
    <limit lower="-2.08567" upper="2.08567" effort="1000" velocity="1000" />
  </joint>
  <joint name="LElbowRoll" type="revolute">
    <parent link="LElbow" />
    <child link="LForeArm" />
    <axis xyz="0 0 1" />
    <limit lower="-1.56207" upper="-0.008727" effort="1000" velocity="1000" />
  </joint>
  <joint name="LWristYaw" type="revolute">
    <origin xyz="0.15 0 0" />
    <parent link="LForeArm" />
    <child link="l_wrist" />
    <axis xyz="1 0 0" />
    <limit lower="-1.82387" upper="1.82387" effort="1000" velocity="1000" />
  </joint>
  <joint name="LHand" type="revolute">
    <origin xyz="0.025 0 0" />
    <parent link="l_wrist" />
    <child link="l_gripper" />
    <axis xyz="1 0 0" />
    <limit lower="0.02" upper="0.98" effort="1000" velocity="1000" />
  </joint>
  <joint name="l_wrist_LHandTouchBack_frame_joint" type="fixed">
    <origin rpy="0 4.712389 -1.570786" xyz="0.0523 0 0.0304" />
    <parent link="l_wrist" />
    <child link="LHandTouchBack_frame" />
  </joint>
  <joint name="LFinger21" type="continuous">
    <origin rpy="-4.712385 1.0472 -0.061086" xyz="0.0873 -0.0073 0.006" />
    <parent link="l_wrist" />
    <child link="LFinger21_link" />
    <axis xyz="0 0 1" />
  </joint>
  <joint name="LFinger22" type="continuous">
    <origin rpy="0 0 -1.0472" xyz="0.018 0 0" />
    <parent link="LFinger21_link" />
    <child link="LFinger22_link" />
    <axis xyz="0 0 1" />
  </joint>
  <joint name="LFinger23" type="continuous">
    <origin rpy="0 0 -1.0472" xyz="0.018 0 0" />
    <parent link="LFinger22_link" />
    <child link="LFinger23_link" />
    <axis xyz="0 0 1" />
  </joint>
  <joint name="LFinger11" type="continuous">
    <origin rpy="-4.539165 1.04064 -0.033433" xyz="0.0821 -0.0268 0.004" />
    <parent link="l_wrist" />
    <child link="LFinger11_link" />
    <axis xyz="0 0 1" />
  </joint>
  <joint name="LFinger12" type="continuous">
    <origin rpy="0 0 -1.0472" xyz="0.018 0 0" />
    <parent link="LFinger11_link" />
    <child link="LFinger12_link" />
    <axis xyz="0 0 1" />
  </joint>
  <joint name="LFinger13" type="continuous">
    <origin rpy="0 0 -1.0472" xyz="0.018 0 0" />
    <parent link="LFinger12_link" />
    <child link="LFinger13_link" />
    <axis xyz="0 0 1" />
  </joint>
  <joint name="LFinger41" type="continuous">
    <origin rpy="-4.885615 1.04064 -6.214846" xyz="0.074 0.0309 0" />
    <parent link="l_wrist" />
    <child link="LFinger41_link" />
    <axis xyz="0 0 1" />
  </joint>
  <joint name="LFinger42" type="continuous">
    <origin rpy="0 0 -1.0472" xyz="0.018 0 0" />
    <parent link="LFinger41_link" />
    <child link="LFinger42_link" />
    <axis xyz="0 0 1" />
  </joint>
  <joint name="LFinger43" type="continuous">
    <origin rpy="0 0 -1.0472" xyz="0.018 0 0" />
    <parent link="LFinger42_link" />
    <child link="LFinger43_link" />
    <axis xyz="0 0 1" />
  </joint>
  <joint name="LFinger31" type="continuous">
    <origin rpy="-4.816825 1.04483 -0.029314" xyz="0.0833 0.0123 0.004" />
    <parent link="l_wrist" />
    <child link="LFinger31_link" />
    <axis xyz="0 0 1" />
  </joint>
  <joint name="LFinger32" type="continuous">
    <origin rpy="0 0 -1.0472" xyz="0.018 0 0" />
    <parent link="LFinger31_link" />
    <child link="LFinger32_link" />
    <axis xyz="0 0 1" />
  </joint>
  <joint name="LFinger33" type="continuous">
    <origin rpy="0 0 -1.0472" xyz="0.018 0 0" />
    <parent link="LFinger32_link" />
    <child link="LFinger33_link" />
    <axis xyz="0 0 1" />
  </joint>
  <joint name="LThumb1" type="continuous">
    <origin rpy="-1.95836 0.60626 -5.749207" xyz="0.0482 -0.0357 -0.0199" />
    <parent link="l_wrist" />
    <child link="LThumb1_link" />
    <axis xyz="0 0 1" />
  </joint>
  <joint name="LThumb2" type="continuous">
    <origin rpy="0 0 -1.0472" xyz="0.022 0 0" />
    <parent link="LThumb1_link" />
    <child link="LThumb2_link" />
    <axis xyz="0 0 1" />
  </joint>
  <joint name="RShoulderPitch" type="revolute">
    <origin xyz="-0.057 -0.14974 0.08682" />
    <parent link="torso" />
    <child link="RShoulder" />
    <axis xyz="0 1 0" />
    <limit lower="-2.08567" upper="2.08567" effort="1000" velocity="1000" />
  </joint>
  <joint name="RShoulderRoll" type="revolute">
    <parent link="RShoulder" />
    <child link="RBicep" />
    <axis xyz="0 0 1" />
    <limit lower="-1.56207" upper="-0.008727" effort="1000" velocity="1000" />
  </joint>
  <joint name="RElbowYaw" type="revolute">
    <origin rpy="0 6.126106 0" xyz="0.1812 -0.015 0.00013" />
    <parent link="RBicep" />
    <child link="RElbow" />
    <axis xyz="1 0 0" />
    <limit lower="-2.08567" upper="2.08567" effort="1000" velocity="1000" />
  </joint>
  <joint name="RElbowRoll" type="revolute">
    <parent link="RElbow" />
    <child link="RForeArm" />
    <axis xyz="0 0 1" />
    <limit lower="0.008727" upper="1.56207" effort="1000" velocity="1000" />
  </joint>
  <joint name="RWristYaw" type="revolute">
    <origin xyz="0.15 0 0" />
    <parent link="RForeArm" />
    <child link="r_wrist" />
    <axis xyz="1 0 0" />
    <limit lower="-1.82387" upper="1.82387" effort="1000" velocity="1000" />
  </joint>
  <joint name="RHand" type="revolute">
    <origin xyz="0.025 0 0" />
    <parent link="r_wrist" />
    <child link="r_gripper" />
    <axis xyz="1 0 0" />
    <limit lower="0.02" upper="0.98" effort="1000" velocity="1000" />
  </joint>
  <joint name="r_wrist_RHandTouchBack_frame_joint" type="fixed">
    <origin rpy="0 4.712389 -1.570786" xyz="0.0523 0 0.0304" />
    <parent link="r_wrist" />
    <child link="RHandTouchBack_frame" />
  </joint>
  <joint name="RFinger41" type="continuous">
    <origin rpy="-4.539165 1.04064 -0.06834" xyz="0.074 -0.0309 0" />
    <parent link="r_wrist" />
    <child link="RFinger41_link" />
    <axis xyz="0 0 1" />
  </joint>
  <joint name="RFinger42" type="continuous">
    <origin rpy="0 0 -1.0472" xyz="0.018 0 0" />
    <parent link="RFinger41_link" />
    <child link="RFinger42_link" />
    <axis xyz="0 0 1" />
  </joint>
  <joint name="RFinger43" type="continuous">
    <origin rpy="0 0 -1.0472" xyz="0.018 0 0" />
    <parent link="RFinger42_link" />
    <child link="RFinger43_link" />
    <axis xyz="0 0 1" />
  </joint>
  <joint name="RFinger31" type="continuous">
    <origin rpy="-4.607955 1.04483 -6.253869" xyz="0.0833 -0.0123 0.004" />
    <parent link="r_wrist" />
    <child link="RFinger31_link" />
    <axis xyz="0 0 1" />
  </joint>
  <joint name="RFinger32" type="continuous">
    <origin rpy="0 0 -1.0472" xyz="0.018 0 0" />
    <parent link="RFinger31_link" />
    <child link="RFinger32_link" />
    <axis xyz="0 0 1" />
  </joint>
  <joint name="RFinger33" type="continuous">
    <origin rpy="0 0 -1.0472" xyz="0.018 0 0" />
    <parent link="RFinger32_link" />
    <child link="RFinger33_link" />
    <axis xyz="0 0 1" />
  </joint>
  <joint name="RFinger21" type="continuous">
    <origin rpy="-4.712386 1.0472 -6.222099" xyz="0.0873 0.0073 0.006" />
    <parent link="r_wrist" />
    <child link="RFinger21_link" />
    <axis xyz="0 0 1" />
  </joint>
  <joint name="RFinger22" type="continuous">
    <origin rpy="0 0 -1.0472" xyz="0.018 0 0" />
    <parent link="RFinger21_link" />
    <child link="RFinger22_link" />
    <axis xyz="0 0 1" />
  </joint>
  <joint name="RFinger23" type="continuous">
    <origin rpy="0 0 -1.0472" xyz="0.018 0 0" />
    <parent link="RFinger22_link" />
    <child link="RFinger23_link" />
    <axis xyz="0 0 1" />
  </joint>
  <joint name="RFinger11" type="continuous">
    <origin rpy="-4.885615 1.04064 -6.249752" xyz="0.0821 0.0268 0.004" />
    <parent link="r_wrist" />
    <child link="RFinger11_link" />
    <axis xyz="0 0 1" />
  </joint>
  <joint name="RFinger12" type="continuous">
    <origin rpy="0 0 -1.0472" xyz="0.018 0 0" />
    <parent link="RFinger11_link" />
    <child link="RFinger12_link" />
    <axis xyz="0 0 1" />
  </joint>
  <joint name="RFinger13" type="continuous">
    <origin rpy="0 0 -1.0472" xyz="0.018 0 0" />
    <parent link="RFinger12_link" />
    <child link="RFinger13_link" />
    <axis xyz="0 0 1" />
  </joint>
  <joint name="RThumb1" type="continuous">
    <origin rpy="-1.18323 0.60626 -0.533978" xyz="0.0482 0.0357 -0.0199" />
    <parent link="r_wrist" />
    <child link="RThumb1_link" />
    <axis xyz="0 0 1" />
  </joint>
  <joint name="RThumb2" type="continuous">
    <origin rpy="0 0 -1.0472" xyz="0.022 0 0" />
    <parent link="RThumb1_link" />
    <child link="RThumb2_link" />
    <axis xyz="0 0 1" />
  </joint>
  <joint name="torso_ImuTorsoAccelerometer_frame_joint" type="fixed">
    <origin xyz="0.00239 -0.03575 0.00626" />
    <parent link="torso" />
    <child link="ImuTorsoAccelerometer_frame" />
  </joint>
  <joint name="torso_ImuTorsoGyrometer_frame_joint" type="fixed">
    <origin xyz="0.00204 -0.03491 -0.00959" />
    <parent link="torso" />
    <child link="ImuTorsoGyrometer_frame" />
  </joint>
  <joint name="torso_Tablet_frame_joint" type="fixed">
    <origin rpy="0 5.759586 0" xyz="0.083925 0 0.06251" />
    <parent link="torso" />
    <child link="Tablet_frame" />
  </joint>
  <joint name="torso_ChestButton_frame_joint" type="fixed">
    <origin xyz="0.049871 0.001588 0.055163" />
    <parent link="torso" />
    <child link="ChestButton_frame" />
  </joint>
  <gazebo>
  <plugin filename="libgazebo_ros_control.so" name="gazebo_ros_control">
    <robotNamespace />
    <robotSimType>gazebo_ros_control/DefaultRobotHWSim</robotSimType>
  </plugin>
  <plugin filename="libroboticsgroup_gazebo_mimic_joint_plugin.so" name="mimic_LFinger11">
    <joint>LHand</joint>
    <mimicJoint>LFinger11</mimicJoint>
    <multiplier>-0.785398163398</multiplier>
    <offset>0.785398163398</offset>
    <hasPID />
  </plugin>
  <plugin filename="libroboticsgroup_gazebo_mimic_joint_plugin.so" name="mimic_LFinger12">
    <joint>LHand</joint>
    <mimicJoint>LFinger12</mimicJoint>
    <multiplier>-0.785398163398</multiplier>
    <offset>0.785398163398</offset>
    <hasPID />
  </plugin>
  <plugin filename="libroboticsgroup_gazebo_mimic_joint_plugin.so" name="mimic_LFinger13">
    <joint>LHand</joint>
    <mimicJoint>LFinger13</mimicJoint>
    <multiplier>-0.785398163398</multiplier>
    <offset>0.785398163398</offset>
    <hasPID />
  </plugin>
  <plugin filename="libroboticsgroup_gazebo_mimic_joint_plugin.so" name="mimic_LFinger21">
    <joint>LHand</joint>
    <mimicJoint>LFinger21</mimicJoint>
    <multiplier>-0.785398163398</multiplier>
    <offset>0.785398163398</offset>
    <hasPID />
  </plugin>
  <plugin filename="libroboticsgroup_gazebo_mimic_joint_plugin.so" name="mimic_LFinger22">
    <joint>LHand</joint>
    <mimicJoint>LFinger22</mimicJoint>
    <multiplier>-0.785398163398</multiplier>
    <offset>0.785398163398</offset>
    <hasPID />
  </plugin>
  <plugin filename="libroboticsgroup_gazebo_mimic_joint_plugin.so" name="mimic_LFinger23">
    <joint>LHand</joint>
    <mimicJoint>LFinger23</mimicJoint>
    <multiplier>-0.785398163398</multiplier>
    <offset>0.785398163398</offset>
    <hasPID />
  </plugin>
  <plugin filename="libroboticsgroup_gazebo_mimic_joint_plugin.so" name="mimic_LFinger31">
    <joint>LHand</joint>
    <mimicJoint>LFinger31</mimicJoint>
    <multiplier>-0.785398163398</multiplier>
    <offset>0.785398163398</offset>
    <hasPID />
  </plugin>
  <plugin filename="libroboticsgroup_gazebo_mimic_joint_plugin.so" name="mimic_LFinger32">
    <joint>LHand</joint>
    <mimicJoint>LFinger32</mimicJoint>
    <multiplier>-0.785398163398</multiplier>
    <offset>0.785398163398</offset>
    <hasPID />
  </plugin>
  <plugin filename="libroboticsgroup_gazebo_mimic_joint_plugin.so" name="mimic_LFinger33">
    <joint>LHand</joint>
    <mimicJoint>LFinger33</mimicJoint>
    <multiplier>-0.785398163398</multiplier>
    <offset>0.785398163398</offset>
    <hasPID />
  </plugin>
  <plugin filename="libroboticsgroup_gazebo_mimic_joint_plugin.so" name="mimic_LFinger41">
    <joint>LHand</joint>
    <mimicJoint>LFinger41</mimicJoint>
    <multiplier>-0.785398163398</multiplier>
    <offset>0.785398163398</offset>
    <hasPID />
  </plugin>
  <plugin filename="libroboticsgroup_gazebo_mimic_joint_plugin.so" name="mimic_LFinger42">
    <joint>LHand</joint>
    <mimicJoint>LFinger42</mimicJoint>
    <multiplier>-0.785398163398</multiplier>
    <offset>0.785398163398</offset>
    <hasPID />
  </plugin>
  <plugin filename="libroboticsgroup_gazebo_mimic_joint_plugin.so" name="mimic_LFinger43">
    <joint>LHand</joint>
    <mimicJoint>LFinger43</mimicJoint>
    <multiplier>-0.785398163398</multiplier>
    <offset>0.785398163398</offset>
    <hasPID />
  </plugin>
  <plugin filename="libroboticsgroup_gazebo_mimic_joint_plugin.so" name="mimic_RFinger11">
    <joint>RHand</joint>
    <mimicJoint>RFinger11</mimicJoint>
    <multiplier>-0.785398163398</multiplier>
    <offset>0.785398163398</offset>
    <hasPID />
  </plugin>
  <plugin filename="libroboticsgroup_gazebo_mimic_joint_plugin.so" name="mimic_RFinger12">
    <joint>RHand</joint>
    <mimicJoint>RFinger12</mimicJoint>
    <multiplier>-0.785398163398</multiplier>
    <offset>0.785398163398</offset>
    <hasPID />
  </plugin>
  <plugin filename="libroboticsgroup_gazebo_mimic_joint_plugin.so" name="mimic_RFinger13">
    <joint>RHand</joint>
    <mimicJoint>RFinger13</mimicJoint>
    <multiplier>-0.785398163398</multiplier>
    <offset>0.785398163398</offset>
    <hasPID />
  </plugin>
  <plugin filename="libroboticsgroup_gazebo_mimic_joint_plugin.so" name="mimic_RFinger21">
    <joint>RHand</joint>
    <mimicJoint>RFinger21</mimicJoint>
    <multiplier>-0.785398163398</multiplier>
    <offset>0.785398163398</offset>
    <hasPID />
  </plugin>
  <plugin filename="libroboticsgroup_gazebo_mimic_joint_plugin.so" name="mimic_RFinger22">
    <joint>RHand</joint>
    <mimicJoint>RFinger22</mimicJoint>
    <multiplier>-0.785398163398</multiplier>
    <offset>0.785398163398</offset>
    <hasPID />
  </plugin>
  <plugin filename="libroboticsgroup_gazebo_mimic_joint_plugin.so" name="mimic_RFinger23">
    <joint>RHand</joint>
    <mimicJoint>RFinger23</mimicJoint>
    <multiplier>-0.785398163398</multiplier>
    <offset>0.785398163398</offset>
    <hasPID />
  </plugin>
  <plugin filename="libroboticsgroup_gazebo_mimic_joint_plugin.so" name="mimic_RFinger31">
    <joint>RHand</joint>
    <mimicJoint>RFinger31</mimicJoint>
    <multiplier>-0.785398163398</multiplier>
    <offset>0.785398163398</offset>
    <hasPID />
  </plugin>
  <plugin filename="libroboticsgroup_gazebo_mimic_joint_plugin.so" name="mimic_RFinger32">
    <joint>RHand</joint>
    <mimicJoint>RFinger32</mimicJoint>
    <multiplier>-0.785398163398</multiplier>
    <offset>0.785398163398</offset>
    <hasPID />
  </plugin>
  <plugin filename="libroboticsgroup_gazebo_mimic_joint_plugin.so" name="mimic_RFinger33">
    <joint>RHand</joint>
    <mimicJoint>RFinger33</mimicJoint>
    <multiplier>-0.785398163398</multiplier>
    <offset>0.785398163398</offset>
    <hasPID />
  </plugin>
  <plugin filename="libroboticsgroup_gazebo_mimic_joint_plugin.so" name="mimic_RFinger41">
    <joint>RHand</joint>
    <mimicJoint>RFinger41</mimicJoint>
    <multiplier>-0.785398163398</multiplier>
    <offset>0.785398163398</offset>
    <hasPID />
  </plugin>
  <plugin filename="libroboticsgroup_gazebo_mimic_joint_plugin.so" name="mimic_RFinger42">
    <joint>RHand</joint>
    <mimicJoint>RFinger42</mimicJoint>
    <multiplier>-0.785398163398</multiplier>
    <offset>0.785398163398</offset>
    <hasPID />
  </plugin>
  <plugin filename="libroboticsgroup_gazebo_mimic_joint_plugin.so" name="mimic_RFinger43">
    <joint>RHand</joint>
    <mimicJoint>RFinger43</mimicJoint>
    <multiplier>-0.785398163398</multiplier>
    <offset>0.785398163398</offset>
    <hasPID />
  </plugin>
  <plugin filename="libroboticsgroup_gazebo_mimic_joint_plugin.so" name="LThumb1">
    <joint>LHand</joint>
    <mimicJoint>LThumb1</mimicJoint>
    <multiplier>-0.785398163398</multiplier>
    <offset>0.785398163398</offset>
    <hasPID />
  </plugin>
  <plugin filename="libroboticsgroup_gazebo_mimic_joint_plugin.so" name="LThumb2">
    <joint>LHand</joint>
    <mimicJoint>LThumb2</mimicJoint>
    <multiplier>-0.785398163398</multiplier>
    <offset>0.785398163398</offset>
    <hasPID />
  </plugin>
  <plugin filename="libroboticsgroup_gazebo_mimic_joint_plugin.so" name="RThumb1">
    <joint>RHand</joint>
    <mimicJoint>RThumb1</mimicJoint>
    <multiplier>-0.785398163398</multiplier>
    <offset>0.785398163398</offset>
    <hasPID />
  </plugin>
  <plugin filename="libroboticsgroup_gazebo_mimic_joint_plugin.so" name="RThumb2">
    <joint>RHand</joint>
    <mimicJoint>RThumb2</mimicJoint>
    <multiplier>-0.785398163398</multiplier>
    <offset>0.785398163398</offset>
    <hasPID />
  </plugin>
  <plugin filename="libroboticsgroup_gazebo_disable_link_plugin.so" name="LFinger11_link">
    <link>LFinger11_link</link>
  </plugin>
  <plugin filename="libroboticsgroup_gazebo_disable_link_plugin.so" name="LFinger12_link">
    <link>LFinger12_link</link>
  </plugin>
  <plugin filename="libroboticsgroup_gazebo_disable_link_plugin.so" name="LFinger13_link">
    <link>LFinger13_link</link>
  </plugin>
  <plugin filename="libroboticsgroup_gazebo_disable_link_plugin.so" name="LFinger21_link">
    <link>LFinger21_link</link>
  </plugin>
  <plugin filename="libroboticsgroup_gazebo_disable_link_plugin.so" name="LFinger22_link">
    <link>LFinger22_link</link>
  </plugin>
  <plugin filename="libroboticsgroup_gazebo_disable_link_plugin.so" name="LFinger23_link">
    <link>LFinger23_link</link>
  </plugin>
  <plugin filename="libroboticsgroup_gazebo_disable_link_plugin.so" name="LFinger31_link">
    <link>LFinger31_link</link>
  </plugin>
  <plugin filename="libroboticsgroup_gazebo_disable_link_plugin.so" name="LFinger32_link">
    <link>LFinger32_link</link>
  </plugin>
  <plugin filename="libroboticsgroup_gazebo_disable_link_plugin.so" name="LFinger33_link">
    <link>LFinger33_link</link>
  </plugin>
  <plugin filename="libroboticsgroup_gazebo_disable_link_plugin.so" name="LFinger41_link">
    <link>LFinger41_link</link>
  </plugin>
  <plugin filename="libroboticsgroup_gazebo_disable_link_plugin.so" name="LFinger42_link">
    <link>LFinger42_link</link>
  </plugin>
  <plugin filename="libroboticsgroup_gazebo_disable_link_plugin.so" name="LFinger43_link">
    <link>LFinger43_link</link>
  </plugin>
  <plugin filename="libroboticsgroup_gazebo_disable_link_plugin.so" name="LThumb1_link">
    <link>LThumb1_link</link>
  </plugin>
  <plugin filename="libroboticsgroup_gazebo_disable_link_plugin.so" name="LThumb2_link">
    <link>LThumb2_link</link>
  </plugin>
  <plugin filename="libroboticsgroup_gazebo_disable_link_plugin.so" name="l_gripper">
    <link>l_gripper</link>
  </plugin>
  <plugin filename="libroboticsgroup_gazebo_disable_link_plugin.so" name="RFinger11_link">
    <link>RFinger11_link</link>
  </plugin>
  <plugin filename="libroboticsgroup_gazebo_disable_link_plugin.so" name="RFinger12_link">
    <link>RFinger12_link</link>
  </plugin>
  <plugin filename="libroboticsgroup_gazebo_disable_link_plugin.so" name="RFinger13_link">
    <link>RFinger13_link</link>
  </plugin>
  <plugin filename="libroboticsgroup_gazebo_disable_link_plugin.so" name="RFinger21_link">
    <link>RFinger21_link</link>
  </plugin>
  <plugin filename="libroboticsgroup_gazebo_disable_link_plugin.so" name="RFinger22_link">
    <link>RFinger22_link</link>
  </plugin>
  <plugin filename="libroboticsgroup_gazebo_disable_link_plugin.so" name="RFinger23_link">
    <link>RFinger23_link</link>
  </plugin>
  <plugin filename="libroboticsgroup_gazebo_disable_link_plugin.so" name="RFinger31_link">
    <link>RFinger31_link</link>
  </plugin>
  <plugin filename="libroboticsgroup_gazebo_disable_link_plugin.so" name="RFinger32_link">
    <link>RFinger32_link</link>
  </plugin>
  <plugin filename="libroboticsgroup_gazebo_disable_link_plugin.so" name="RFinger33_link">
    <link>RFinger33_link</link>
  </plugin>
  <plugin filename="libroboticsgroup_gazebo_disable_link_plugin.so" name="RFinger41_link">
    <link>RFinger41_link</link>
  </plugin>
  <plugin filename="libroboticsgroup_gazebo_disable_link_plugin.so" name="RFinger42_link">
    <link>RFinger42_link</link>
  </plugin>
  <plugin filename="libroboticsgroup_gazebo_disable_link_plugin.so" name="RFinger43_link">
    <link>RFinger43_link</link>
  </plugin>
  <plugin filename="libroboticsgroup_gazebo_disable_link_plugin.so" name="RThumb1_link">
    <link>RThumb1_link</link>
  </plugin>
  <plugin filename="libroboticsgroup_gazebo_disable_link_plugin.so" name="RThumb2_link">
    <link>RThumb2_link</link>
  </plugin>
  <plugin filename="libroboticsgroup_gazebo_disable_link_plugin.so" name="r_gripper">
    <link>r_gripper</link>
  </plugin>
</gazebo>
<gazebo reference="base_footprint">
  <turnGravityOff>false</turnGravityOff>
</gazebo>
<gazebo reference="base_link">
  <turnGravityOff>false</turnGravityOff>
</gazebo>
<gazebo reference="torso">
  <mu1>0.5</mu1>
  <mu2>0.5</mu2>
  <selfCollide>false</selfCollide>
  <turnGravityOff>false</turnGravityOff>
</gazebo>
<gazebo reference="Neck">
  <mu1>0.5</mu1>
  <mu2>0.5</mu2>
  <selfCollide>false</selfCollide>
  <turnGravityOff>false</turnGravityOff>
</gazebo>
<gazebo reference="Head">
  <mu1>0.5</mu1>
  <mu2>0.5</mu2>
  <selfCollide>false</selfCollide>
  <turnGravityOff>false</turnGravityOff>
</gazebo>
<gazebo reference="gaze">
  <mu1>0.5</mu1>
  <mu2>0.5</mu2>
  <selfCollide>false</selfCollide>
  <turnGravityOff>false</turnGravityOff>
</gazebo>
<gazebo reference="LShoulder">
  <mu1>0.5</mu1>
  <mu2>0.5</mu2>
  <selfCollide>false</selfCollide>
  <turnGravityOff>false</turnGravityOff>
</gazebo>
<gazebo reference="LBicep">
  <mu1>0.5</mu1>
  <mu2>0.5</mu2>
  <selfCollide>false</selfCollide>
  <turnGravityOff>false</turnGravityOff>
</gazebo>
<gazebo reference="LElbow">
  <mu1>0.5</mu1>
  <mu2>0.5</mu2>
  <selfCollide>false</selfCollide>
  <turnGravityOff>false</turnGravityOff>
</gazebo>
<gazebo reference="LForeArm">
  <mu1>0.5</mu1>
  <mu2>0.5</mu2>
  <selfCollide>false</selfCollide>
  <turnGravityOff>false</turnGravityOff>
</gazebo>
<gazebo reference="l_wrist">
  <mu1>0.5</mu1>
  <mu2>0.5</mu2>
  <selfCollide>false</selfCollide>
  <turnGravityOff>false</turnGravityOff>
</gazebo>
<gazebo reference="l_gripper">
  <mu1>0.5</mu1>
  <mu2>0.5</mu2>
  <selfCollide>false</selfCollide>
  <turnGravityOff>true</turnGravityOff>
</gazebo>
<gazebo reference="RShoulder">
  <mu1>0.5</mu1>
  <mu2>0.5</mu2>
  <selfCollide>false</selfCollide>
  <turnGravityOff>false</turnGravityOff>
</gazebo>
<gazebo reference="RBicep">
  <mu1>0.5</mu1>
  <mu2>0.5</mu2>
  <selfCollide>false</selfCollide>
  <turnGravityOff>false</turnGravityOff>
</gazebo>
<gazebo reference="RElbow">
  <mu1>0.5</mu1>
  <mu2>0.5</mu2>
  <selfCollide>false</selfCollide>
  <turnGravityOff>false</turnGravityOff>
</gazebo>
<gazebo reference="RForeArm">
  <mu1>0.5</mu1>
  <mu2>0.5</mu2>
  <selfCollide>false</selfCollide>
  <turnGravityOff>false</turnGravityOff>
</gazebo>
<gazebo reference="r_wrist">
  <mu1>0.5</mu1>
  <mu2>0.5</mu2>
  <selfCollide>false</selfCollide>
  <turnGravityOff>false</turnGravityOff>
</gazebo>
<gazebo reference="r_gripper">
  <mu1>0.5</mu1>
  <mu2>0.5</mu2>
  <selfCollide>false</selfCollide>
  <turnGravityOff>true</turnGravityOff>
</gazebo>
<gazebo reference="LFinger11_link">
  <mu1>0.5</mu1>
  <mu2>0.5</mu2>
  <selfCollide>false</selfCollide>
  <turnGravityOff>true</turnGravityOff>
</gazebo>
<gazebo reference="LFinger12_link">
  <mu1>0.5</mu1>
  <mu2>0.5</mu2>
  <selfCollide>false</selfCollide>
  <turnGravityOff>true</turnGravityOff>
</gazebo>
<gazebo reference="LFinger13_link">
  <mu1>0.5</mu1>
  <mu2>0.5</mu2>
  <selfCollide>false</selfCollide>
  <turnGravityOff>true</turnGravityOff>
</gazebo>
<gazebo reference="LFinger21_link">
  <mu1>0.5</mu1>
  <mu2>0.5</mu2>
  <selfCollide>false</selfCollide>
  <turnGravityOff>true</turnGravityOff>
</gazebo>
<gazebo reference="LFinger22_link">
  <mu1>0.5</mu1>
  <mu2>0.5</mu2>
  <selfCollide>false</selfCollide>
  <turnGravityOff>true</turnGravityOff>
</gazebo>
<gazebo reference="LFinger23_link">
  <mu1>0.5</mu1>
  <mu2>0.5</mu2>
  <selfCollide>false</selfCollide>
  <turnGravityOff>true</turnGravityOff>
</gazebo>
<gazebo reference="LFinger31_link">
  <mu1>0.5</mu1>
  <mu2>0.5</mu2>
  <selfCollide>false</selfCollide>
  <turnGravityOff>true</turnGravityOff>
</gazebo>
<gazebo reference="LFinger32_link">
  <mu1>0.5</mu1>
  <mu2>0.5</mu2>
  <selfCollide>false</selfCollide>
  <turnGravityOff>true</turnGravityOff>
</gazebo>
<gazebo reference="LFinger33_link">
  <mu1>0.5</mu1>
  <mu2>0.5</mu2>
  <selfCollide>false</selfCollide>
  <turnGravityOff>true</turnGravityOff>
</gazebo>
<gazebo reference="LFinger41_link">
  <mu1>0.5</mu1>
  <mu2>0.5</mu2>
  <selfCollide>false</selfCollide>
  <turnGravityOff>true</turnGravityOff>
</gazebo>
<gazebo reference="LFinger42_link">
  <mu1>0.5</mu1>
  <mu2>0.5</mu2>
  <selfCollide>false</selfCollide>
  <turnGravityOff>true</turnGravityOff>
</gazebo>
<gazebo reference="LFinger43_link">
  <mu1>0.5</mu1>
  <mu2>0.5</mu2>
  <selfCollide>false</selfCollide>
  <turnGravityOff>true</turnGravityOff>
</gazebo>
<gazebo reference="LThumb1_link">
  <mu1>0.5</mu1>
  <mu2>0.5</mu2>
  <selfCollide>false</selfCollide>
  <turnGravityOff>true</turnGravityOff>
</gazebo>
<gazebo reference="LThumb2_link">
  <mu1>0.5</mu1>
  <mu2>0.5</mu2>
  <selfCollide>false</selfCollide>
  <turnGravityOff>true</turnGravityOff>
</gazebo>
<gazebo reference="Hip">
  <mu1>0.5</mu1>
  <mu2>0.5</mu2>
  <selfCollide>false</selfCollide>
  <turnGravityOff>false</turnGravityOff>
</gazebo>
<gazebo reference="Pelvis">
  <mu1>0.5</mu1>
  <mu2>0.5</mu2>
  <selfCollide>false</selfCollide>
  <turnGravityOff>false</turnGravityOff>
</gazebo>
<gazebo reference="Tibia">
  <mu1>0.5</mu1>
  <mu2>0.5</mu2>
  <selfCollide>false</selfCollide>
  <turnGravityOff>false</turnGravityOff>
</gazebo>
<gazebo reference="WheelFL_link">
  <mu1>1</mu1>
  <mu2>0</mu2>
  <kp value="10000000.0" />
  <kd value="1.0" />
  <fdir1 value="1 0 0" />
  <minDepth>0.003</minDepth>
  <turnGravityOff>false</turnGravityOff>
</gazebo>
<gazebo reference="WheelB_link">
  <mu1>0.5</mu1>
  <mu2>0.5</mu2>
  <kp value="10000000.0" />
  <kd value="1.0" />
  <fdir1 value="1 0 0" />
  <minDepth>0.003</minDepth>
  <turnGravityOff>false</turnGravityOff>
</gazebo>
<gazebo reference="WheelFR_link">
  <mu1>0</mu1>
  <mu2>1</mu2>
  <kp value="10000000.0" />
  <kd value="1.0" />
  <fdir1 value="0 1 0" />
  <minDepth>0.003</minDepth>
  <turnGravityOff>false</turnGravityOff>
</gazebo>
<gazebo reference="RFinger11_link">
  <mu1>0.5</mu1>
  <mu2>0.5</mu2>
  <selfCollide>false</selfCollide>
  <turnGravityOff>true</turnGravityOff>
</gazebo>
<gazebo reference="RFinger12_link">
  <mu1>0.5</mu1>
  <mu2>0.5</mu2>
  <selfCollide>false</selfCollide>
  <turnGravityOff>true</turnGravityOff>
</gazebo>
<gazebo reference="RFinger13_link">
  <mu1>0.5</mu1>
  <mu2>0.5</mu2>
  <selfCollide>false</selfCollide>
  <turnGravityOff>true</turnGravityOff>
</gazebo>
<gazebo reference="RFinger21_link">
  <mu1>0.5</mu1>
  <mu2>0.5</mu2>
  <selfCollide>false</selfCollide>
  <turnGravityOff>true</turnGravityOff>
</gazebo>
<gazebo reference="RFinger22_link">
  <mu1>0.5</mu1>
  <mu2>0.5</mu2>
  <selfCollide>false</selfCollide>
  <turnGravityOff>true</turnGravityOff>
</gazebo>
<gazebo reference="RFinger23_link">
  <mu1>0.5</mu1>
  <mu2>0.5</mu2>
  <selfCollide>false</selfCollide>
  <turnGravityOff>true</turnGravityOff>
</gazebo>
<gazebo reference="RFinger31_link">
  <mu1>0.5</mu1>
  <mu2>0.5</mu2>
  <selfCollide>false</selfCollide>
  <turnGravityOff>true</turnGravityOff>
</gazebo>
<gazebo reference="RFinger32_link">
  <mu1>0.5</mu1>
  <mu2>0.5</mu2>
  <selfCollide>false</selfCollide>
  <turnGravityOff>true</turnGravityOff>
</gazebo>
<gazebo reference="RFinger33_link">
  <mu1>0.5</mu1>
  <mu2>0.5</mu2>
  <selfCollide>false</selfCollide>
  <turnGravityOff>true</turnGravityOff>
</gazebo>
<gazebo reference="RFinger41_link">
  <mu1>0.5</mu1>
  <mu2>0.5</mu2>
  <selfCollide>false</selfCollide>
  <turnGravityOff>true</turnGravityOff>
</gazebo>
<gazebo reference="RFinger42_link">
  <mu1>0.5</mu1>
  <mu2>0.5</mu2>
  <selfCollide>false</selfCollide>
  <turnGravityOff>true</turnGravityOff>
</gazebo>
<gazebo reference="RFinger43_link">
  <mu1>0.5</mu1>
  <mu2>0.5</mu2>
  <selfCollide>false</selfCollide>
  <turnGravityOff>true</turnGravityOff>
</gazebo>
<gazebo reference="RThumb1_link">
  <mu1>0.5</mu1>
  <mu2>0.5</mu2>
  <selfCollide>false</selfCollide>
  <turnGravityOff>true</turnGravityOff>
</gazebo>
<gazebo reference="RThumb2_link">
  <mu1>0.5</mu1>
  <mu2>0.5</mu2>
  <selfCollide>false</selfCollide>
  <turnGravityOff>true</turnGravityOff>
</gazebo>
<gazebo reference="CameraTop_frame">
  <sensor name="CameraTop" type="camera">
    <update_rate>5.0</update_rate>
    <camera name="camera_top">
      <horizontal_fov>1.0</horizontal_fov>
      <image>
        <width>640</width>
        <height>480</height>
        <format>R8G8B8</format>
      </image>
      <clip>
        <near>0.3</near>
        <far>500</far>
      </clip>
      <noise>
        <type>gaussian</type>
        <mean>0.0</mean>
        <stddev>0.007</stddev>
      </noise>
    </camera>
    <plugin filename="libgazebo_ros_camera.so" name="camera_controller">
      <robotNamespace>/pepper_robot</robotNamespace>
      <alwaysOn>true</alwaysOn>
      <updateRate>5.0</updateRate>
      <cameraName>camera/front</cameraName>
      <imageTopicName>image_raw</imageTopicName>
      <cameraInfoTopicName>camera_info</cameraInfoTopicName>
      <frameName>CameraTop_optical_frame</frameName>
      <hackBaseline>0.07</hackBaseline>
      <distortionK1>-0.0545211</distortionK1>
      <distortionK2>0.06919734</distortionK2>
      <distortionK3>-0.0241095</distortionK3>
      <distortionT1>-0.0112245</distortionT1>
      <distortionT2>0.0</distortionT2>
    </plugin>
  </sensor>
</gazebo>
<gazebo reference="CameraBottom_frame">
  <sensor name="CameraBottom" type="camera">
    <update_rate>5.0</update_rate>
    <camera name="camera_bottom">
      <horizontal_fov>1.0</horizontal_fov>
      <image>
        <width>640</width>
        <height>480</height>
        <format>R8G8B8</format>
      </image>
      <clip>
        <near>0.05</near>
        <far>500</far>
      </clip>
      <noise>
        <type>gaussian</type>
        <mean>0.0</mean>
        <stddev>0.007</stddev>
      </noise>
    </camera>
    <plugin filename="libgazebo_ros_camera.so" name="camera_controller">
      <robotNamespace>/pepper_robot</robotNamespace>
      <alwaysOn>true</alwaysOn>
      <updateRate>5.0</updateRate>
      <cameraName>camera/bottom</cameraName>
      <imageTopicName>image_raw</imageTopicName>
      <cameraInfoTopicName>camera_info</cameraInfoTopicName>
      <frameName>CameraBottom_optical_frame</frameName>
      <hackBaseline>0.07</hackBaseline>
      <distortionK1>-0.0648764</distortionK1>
      <distortionK2>0.06125202</distortionK2>
      <distortionK3>0.00382815</distortionK3>
      <distortionT1>-0.00551104</distortionT1>
      <distortionT2>0.0</distortionT2>
    </plugin>
  </sensor>
</gazebo>
<gazebo reference="CameraDepth_frame">
  <sensor name="CameraDepth_frame_sensor" type="depth">
    <always_on>true</always_on>
    <update_rate>20.0</update_rate>
    <camera>
      <horizontal_fov>1.01229096616</horizontal_fov>
      <image>
        <format>B8G8R8</format>
        <width>320</width>
        <height>240</height>
      </image>
      <clip>
        <near>0.4</near>
        <far>8.0</far>
      </clip>
    </camera>
    <plugin filename="libgazebo_ros_openni_kinect.so" name="CameraDepth_frame_controller">
      <alwaysOn>true</alwaysOn>
      <updateRate>20.0</updateRate>
      <cameraName>pepper_robot/camera</cameraName>
      <imageTopicName>ir/image_raw</imageTopicName>
      <cameraInfoTopicName>depth/camera_info</cameraInfoTopicName>
      <depthImageTopicName>depth/image_raw</depthImageTopicName>
      <pointCloudTopicName>depth/points</pointCloudTopicName>
      <frameName>CameraDepth_optical_frame</frameName>
      <pointCloudCutoff>0.4</pointCloudCutoff>
      <pointCloudCutoffMax>8.0</pointCloudCutoffMax>
      <!-- <distortionK1>0.00000001</distortionK1>
          <distortionK2>0.00000001</distortionK2>
          <distortionK3>0.00000001</distortionK3>
          <distortionT1>0.00000001</distortionT1>
          <distortionT2>0.00000001</distortionT2> -->
    </plugin>
  </sensor>
</gazebo>
<gazebo reference="SonarBack_frame">
  <sensor name="SonarBack" type="ray">
    <pose>0 0 0 0 0 0</pose>
    <update_rate>20</update_rate>
    <visualize>false</visualize>
    <ray>
      <scan>
        <horizontal>
          <samples>5</samples>
          <resolution>3</resolution>
          <min_angle>-0.52</min_angle>
          <max_angle>0.52</max_angle>
        </horizontal>
        <vertical>
          <samples>5</samples>
          <resolution>3</resolution>
          <min_angle>-0.52</min_angle>
          <max_angle>0.52</max_angle>
        </vertical>
      </scan>
      <range>
        <min>0.0</min>
        <max>5.0</max>
        <resolution>3</resolution>
      </range>
    </ray>
    <plugin filename="libgazebo_ros_range.so" name="gazebo_ros_range">
      <robotNamespace>/pepper_robot</robotNamespace>
      <gaussianNoise>0.05</gaussianNoise>
      <alwaysOn>true</alwaysOn>
      <updateRate>20</updateRate>
      <topicName>sonar_back</topicName>
      <frameName>SonarBack_frame</frameName>
      <minRange>0.0</minRange>
      <maxRange>5.0</maxRange>
      <fov>1.05</fov>
      <radiation>ultrasound</radiation>
    </plugin>
  </sensor>
</gazebo>
<gazebo reference="SonarFront_frame">
  <sensor name="SonarFront" type="ray">
    <pose>0 0 0 0 0 0</pose>
    <update_rate>20</update_rate>
    <visualize>false</visualize>
    <ray>
      <scan>
        <horizontal>
          <samples>5</samples>
          <resolution>3</resolution>
          <min_angle>-0.52</min_angle>
          <max_angle>0.52</max_angle>
        </horizontal>
        <vertical>
          <samples>5</samples>
          <resolution>3</resolution>
          <min_angle>-0.52</min_angle>
          <max_angle>0.52</max_angle>
        </vertical>
      </scan>
      <range>
        <min>0.0</min>
        <max>5.0</max>
        <resolution>3</resolution>
      </range>
    </ray>
    <plugin filename="libgazebo_ros_range.so" name="gazebo_ros_range">
      <robotNamespace>/pepper_robot</robotNamespace>
      <gaussianNoise>0.05</gaussianNoise>
      <alwaysOn>true</alwaysOn>
      <updateRate>20</updateRate>
      <topicName>sonar_front</topicName>
      <frameName>SonarFront_frame</frameName>
      <minRange>0.0</minRange>
      <maxRange>5.0</maxRange>
      <fov>1.05</fov>
      <radiation>ultrasound</radiation>
    </plugin>
  </sensor>
</gazebo>
<gazebo>
  <plugin filename="libgazebo_ros_diff_drive.so" name="differential_drive_controller">
    <alwaysOn>true</alwaysOn>
    <legacyMode>false</legacyMode>
    <updateRate>100</updateRate>
    <robotNamespace>/</robotNamespace>
    <leftJoint>WheelFL</leftJoint>
    <rightJoint>WheelFR</rightJoint>
    <wheelSeparation>0.170</wheelSeparation>
    <wheelDiameter>0.140</wheelDiameter>
    <torque>36.9</torque>
    <commandTopic>cmd_vel</commandTopic>
    <odometryTopic>odom_diffdrive</odometryTopic>
    <odometryFrame>odom</odometryFrame>
    <odometrySource>world</odometrySource>
    <publishTf>1</publishTf>
    <rosDebugLevel>na</rosDebugLevel>
    <wheelAcceleration>0</wheelAcceleration>
    <wheelTorque>5</wheelTorque>
    <robotBaseFrame>base_link</robotBaseFrame>
    <publishWheelTF>false</publishWheelTF>
    <publishWheelJointState>false</publishWheelJointState>
  </plugin>
</gazebo>
<transmission name="HeadYaw_Transmission">
  <type>transmission_interface/SimpleTransmission</type>
  <joint name="HeadYaw">
    <hardwareInterface>PositionJointInterface</hardwareInterface>
  </joint>
  <actuator name="HeadYaw_Motor">
    <!-- Dummy Values -->
    <hardwareInterface>PositionJointInterface</hardwareInterface>
    <mechanicalReduction>101.3</mechanicalReduction>
  </actuator>
</transmission>
<transmission name="HeadPitch_Transmission">
  <type>transmission_interface/SimpleTransmission</type>
  <joint name="HeadPitch">
    <hardwareInterface>PositionJointInterface</hardwareInterface>
  </joint>
  <actuator name="HeadPitch_Motor">
    <!-- Dummy Values -->
    <hardwareInterface>PositionJointInterface</hardwareInterface>
    <mechanicalReduction>118.1</mechanicalReduction>
  </actuator>
</transmission>
<transmission name="LShoulderPitch_Transmission">
  <type>transmission_interface/SimpleTransmission</type>
  <joint name="LShoulderPitch">
    <hardwareInterface>PositionJointInterface</hardwareInterface>
  </joint>
  <actuator name="LShoulderPitch_Motor">
    <hardwareInterface>PositionJointInterface</hardwareInterface>
    <mechanicalReduction>101.3</mechanicalReduction>
  </actuator>
</transmission>
<transmission name="LShoulderRoll_Transmission">
  <type>transmission_interface/SimpleTransmission</type>
  <joint name="LShoulderRoll">
    <hardwareInterface>PositionJointInterface</hardwareInterface>
  </joint>
  <actuator name="LShoulderRoll_Motor">
    <hardwareInterface>PositionJointInterface</hardwareInterface>
    <mechanicalReduction>118.1</mechanicalReduction>
  </actuator>
</transmission>
<transmission name="LElbowYaw_Transmission">
  <type>transmission_interface/SimpleTransmission</type>
  <joint name="LElbowYaw">
    <hardwareInterface>PositionJointInterface</hardwareInterface>
  </joint>
  <actuator name="LElbowYaw_Motor">
    <hardwareInterface>PositionJointInterface</hardwareInterface>
    <mechanicalReduction>101.3</mechanicalReduction>
  </actuator>
</transmission>
<transmission name="LElbowRoll_Transmission">
  <type>transmission_interface/SimpleTransmission</type>
  <joint name="LElbowRoll">
    <hardwareInterface>PositionJointInterface</hardwareInterface>
  </joint>
  <actuator name="LElbowRoll_Motor">
    <hardwareInterface>PositionJointInterface</hardwareInterface>
    <mechanicalReduction>118.1</mechanicalReduction>
  </actuator>
</transmission>
<transmission name="LWristYaw_Transmission">
  <type>transmission_interface/SimpleTransmission</type>
  <joint name="LWristYaw">
    <hardwareInterface>PositionJointInterface</hardwareInterface>
  </joint>
  <actuator name="LWristYaw_Motor">
    <hardwareInterface>PositionJointInterface</hardwareInterface>
    <mechanicalReduction>118.1</mechanicalReduction>
  </actuator>
</transmission>
<transmission name="LHand_Transmission">
  <type>transmission_interface/SimpleTransmission</type>
  <joint name="LHand">
    <hardwareInterface>PositionJointInterface</hardwareInterface>
  </joint>
  <actuator name="LHand_Motor">
    <hardwareInterface>PositionJointInterface</hardwareInterface>
    <mechanicalReduction>36.24</mechanicalReduction>
  </actuator>
</transmission>
<transmission name="RShoulderPitch_Transmission">
  <type>transmission_interface/SimpleTransmission</type>
  <joint name="RShoulderPitch">
    <hardwareInterface>PositionJointInterface</hardwareInterface>
  </joint>
  <actuator name="RShoulderPitch_Motor">
    <hardwareInterface>PositionJointInterface</hardwareInterface>
    <mechanicalReduction>101.3</mechanicalReduction>
  </actuator>
</transmission>
<transmission name="RShoulderRoll_Transmission">
  <type>transmission_interface/SimpleTransmission</type>
  <joint name="RShoulderRoll">
    <hardwareInterface>PositionJointInterface</hardwareInterface>
  </joint>
  <actuator name="RShoulderRoll_Motor">
    <hardwareInterface>PositionJointInterface</hardwareInterface>
    <mechanicalReduction>118.1</mechanicalReduction>
  </actuator>
</transmission>
<transmission name="RElbowYaw_Transmission">
  <type>transmission_interface/SimpleTransmission</type>
  <joint name="RElbowYaw">
    <hardwareInterface>PositionJointInterface</hardwareInterface>
  </joint>
  <actuator name="RElbowYaw_Motor">
    <hardwareInterface>PositionJointInterface</hardwareInterface>
    <mechanicalReduction>101.3</mechanicalReduction>
  </actuator>
</transmission>
<transmission name="RElbowRoll_Transmission">
  <type>transmission_interface/SimpleTransmission</type>
  <joint name="RElbowRoll">
    <hardwareInterface>PositionJointInterface</hardwareInterface>
  </joint>
  <actuator name="RElbowRoll_Motor">
    <hardwareInterface>PositionJointInterface</hardwareInterface>
    <mechanicalReduction>118.1</mechanicalReduction>
  </actuator>
</transmission>
<transmission name="RWristYaw_Transmission">
  <type>transmission_interface/SimpleTransmission</type>
  <joint name="RWristYaw">
    <hardwareInterface>PositionJointInterface</hardwareInterface>
  </joint>
  <actuator name="RWristYaw_Motor">
    <hardwareInterface>PositionJointInterface</hardwareInterface>
    <mechanicalReduction>118.1</mechanicalReduction>
  </actuator>
</transmission>
<transmission name="RHand_Transmission">
  <type>transmission_interface/SimpleTransmission</type>
  <joint name="RHand">
    <hardwareInterface>PositionJointInterface</hardwareInterface>
  </joint>
  <actuator name="RHand_Motor">
    <hardwareInterface>PositionJointInterface</hardwareInterface>
    <mechanicalReduction>36.24</mechanicalReduction>
  </actuator>
</transmission>
<transmission name="HipRoll_Transmission">
  <type>transmission_interface/SimpleTransmission</type>
  <joint name="HipRoll">
    <hardwareInterface>PositionJointInterface</hardwareInterface>
  </joint>
  <actuator name="HipRoll_Motor">
    <!-- Dummy Values -->
    <hardwareInterface>PositionJointInterface</hardwareInterface>
    <mechanicalReduction>108.33</mechanicalReduction>
  </actuator>
</transmission>
<transmission name="HipPitch_Transmission">
  <type>transmission_interface/SimpleTransmission</type>
  <joint name="HipPitch">
    <hardwareInterface>PositionJointInterface</hardwareInterface>
  </joint>
  <actuator name="HipPitch_Motor">
    <!-- Dummy Values -->
    <hardwareInterface>PositionJointInterface</hardwareInterface>
    <mechanicalReduction>108.33</mechanicalReduction>
  </actuator>
</transmission>
<transmission name="KneePitch_Transmission">
  <type>transmission_interface/SimpleTransmission</type>
  <joint name="KneePitch">
    <hardwareInterface>PositionJointInterface</hardwareInterface>
  </joint>
  <actuator name="KneePitch_Motor">
    <!-- Dummy Values -->
    <hardwareInterface>PositionJointInterface</hardwareInterface>
    <mechanicalReduction>108.33</mechanicalReduction>
  </actuator>
</transmission>
<transmission name="WheelFL_Transmission">
  <type>transmission_interface/SimpleTransmission</type>
  <joint name="WheelFL">
    <hardwareInterface>EffortJointInterface</hardwareInterface>
  </joint>
  <actuator name="WheelFL_Motor">
    <!-- Dummy Values -->
    <hardwareInterface>EffortJointInterface</hardwareInterface>
    <mechanicalReduction>25.0</mechanicalReduction>
  </actuator>
</transmission>
<transmission name="WheelB_Transmission">
  <type>transmission_interface/SimpleTransmission</type>
  <joint name="WheelB">
    <hardwareInterface>EffortJointInterface</hardwareInterface>
  </joint>
  <actuator name="WheelB_Motor">
    <!-- Dummy Values -->
    <hardwareInterface>EffortJointInterface</hardwareInterface>
    <mechanicalReduction>25.0</mechanicalReduction>
  </actuator>
</transmission>
<transmission name="WheelFR_Transmission">
  <type>transmission_interface/SimpleTransmission</type>
  <joint name="WheelFR">
    <hardwareInterface>EffortJointInterface</hardwareInterface>
  </joint>
  <actuator name="WheelFR_Motor">
    <!-- Dummy Values -->
    <hardwareInterface>EffortJointInterface</hardwareInterface>
    <mechanicalReduction>25.0</mechanicalReduction>
  </actuator>
</transmission>
</robot>
